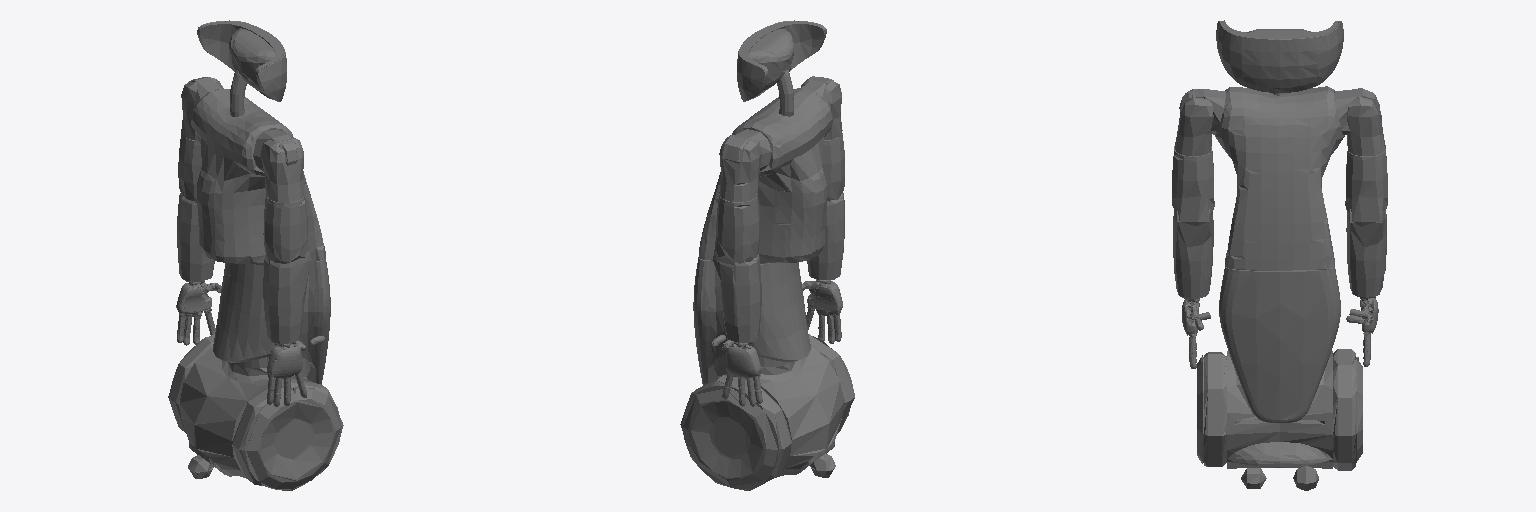
--- Render facts (derived) ---
The picture shows the robot from 3 angles, left to right: view 1: azimuth 30°, elevation 25°; view 2: azimuth 150°, elevation 25°; view 3: azimuth 270°, elevation 25°; orthographic projection.
Robot: R1Mk3 — 184 links, 183 joints (45 revolute, 1 prismatic, 137 fixed); root link mobile_base_body_link; default pose: every joint at zero.
Links seen in each view (by area): view 1: chest_link, mobile_base_r_tyre_link, mobile_base_body_link, torso_slider_eq_link, head_link, r_forearm, r_upper_arm, r_shoulder_2, l_forearm, l_upper_arm, mobile_base_l_tyre_link, r_hand_palm (+4 smaller); view 2: chest_link, mobile_base_l_tyre_link, torso_slider_eq_link, mobile_base_body_link, head_link, l_forearm, l_upper_arm, l_shoulder_2, r_forearm, r_upper_arm, mobile_base_r_tyre_link, l_hand_palm (+4 smaller); view 3: chest_link, torso_slider_eq_link, mobile_base_body_link, head_link, mobile_base_l_tyre_link, mobile_base_r_tyre_link, r_forearm, l_forearm, r_upper_arm, l_upper_arm, r_shoulder_2, l_shoulder_2 (+2 smaller).
Boxes of the visible links, x1,y1,x2,y2 form: chest_link: (191, 89, 325, 265); mobile_base_r_tyre_link: (232, 379, 343, 490); mobile_base_body_link: (179, 347, 313, 478); torso_slider_eq_link: (213, 258, 330, 384); head_link: (197, 20, 286, 101); r_forearm: (263, 251, 311, 344); r_upper_arm: (263, 195, 309, 263); r_shoulder_2: (260, 135, 304, 202); l_forearm: (177, 193, 214, 281); l_upper_arm: (178, 134, 201, 202); mobile_base_l_tyre_link: (168, 334, 214, 432); r_hand_palm: (267, 346, 302, 378); chest_link: (699, 88, 832, 263); mobile_base_l_tyre_link: (680, 375, 791, 490); torso_slider_eq_link: (693, 257, 810, 385); mobile_base_body_link: (705, 346, 843, 477); head_link: (737, 20, 826, 101); l_forearm: (713, 251, 761, 342); l_upper_arm: (714, 193, 759, 263); l_shoulder_2: (719, 135, 762, 201); r_forearm: (807, 193, 844, 280); r_upper_arm: (822, 133, 844, 201); mobile_base_r_tyre_link: (809, 334, 854, 433); l_hand_palm: (726, 345, 760, 377); chest_link: (1215, 86, 1344, 270); torso_slider_eq_link: (1219, 266, 1340, 423); mobile_base_body_link: (1227, 351, 1332, 490); head_link: (1216, 20, 1343, 92); mobile_base_l_tyre_link: (1333, 349, 1362, 470); mobile_base_r_tyre_link: (1197, 352, 1226, 466); r_forearm: (1173, 209, 1213, 299); l_forearm: (1346, 209, 1386, 298); r_upper_arm: (1172, 146, 1214, 225); l_upper_arm: (1345, 149, 1387, 226); r_shoulder_2: (1175, 89, 1213, 156); l_shoulder_2: (1347, 88, 1385, 155).
Size in the robot's own frame: 0.394 by 0.5646 by 1.25 metres.
49 mesh visuals loaded from 49 distinct referenced files (49 binary STL).

URDF robot description (R1Mk3):
<?xml version="1.0"?>
<robot name="R1Mk3">
  <link name="mobile_base_body_link">
    <inertial>
      <mass value="22.38733831972927"/>
      <origin xyz="0.004531530382432036 0 0.06342751366445423" rpy="0 -0 0"/>
      <inertia ixx="0.555440058441419" ixy="0" ixz="-0.0640008025738856" iyy="0.5868785916369081" iyz="0" izz="0.2693721028680779"/>
    </inertial>
    <visual>
      <origin xyz="0 0 0" rpy="0 -0 0"/>
      <geometry>
        <mesh filename="package://R1Mk3/meshes/simmechanics/sim_emorph_mob_base_body.stl" scale="0.001 0.001 0.001"/>
      </geometry>
      <material name="">
        <color rgba="0.5 0.5 0.5 1"/>
      </material>
    </visual>
    <collision>
      <origin xyz="0 0 0" rpy="0 -0 0"/>
      <geometry>
        <mesh filename="package://R1Mk3/meshes/simmechanics/sim_emorph_mob_base_body.stl" scale="0.001 0.001 0.001"/>
      </geometry>
      <material name="">
        <color rgba="0.5 0.5 0.5 1"/>
      </material>
    </collision>
  </link>
  <joint name="mobile_base_l_wheel_joint" type="revolute">
    <origin xyz="0 0.1389999999999999 -1.1102230246251565e-16" rpy="0 7.662700497994973e-16 0"/>
    <axis xyz="0 1 0"/>
    <parent link="mobile_base_body_link"/>
    <child link="mobile_base_l_tyre_link"/>
    <limit lower="-1.7453292519943295e+6" upper="1.7453292519943295e+6" effort="1e+9" velocity="1e+9"/>
    <dynamics damping="0.5" friction="0"/>
  </joint>
  <link name="mobile_base_l_tyre_link">
    <inertial>
      <mass value="3.2199858055744675"/>
      <origin xyz="0 0.03442489884626515 9.10811343815543e-6" rpy="0 -0 0"/>
      <inertia ixx="0.021487596568520503" ixy="0" ixz="0" iyy="0.04037529515619701" iyz="-8.891903600015211e-7" izz="0.021483307656942376"/>
    </inertial>
    <visual>
      <origin xyz="0 0 0" rpy="0 -0 0"/>
      <geometry>
        <mesh filename="package://R1Mk3/meshes/simmechanics/sim_emorph_mobile_base_l_tyre.stl" scale="0.001 0.001 0.001"/>
      </geometry>
      <material name="">
        <color rgba="0.5 0.5 0.5 1"/>
      </material>
    </visual>
    <collision>
      <origin xyz="0 0.03 0" rpy="1.57079632679 -0 0"/>
      <geometry>
        <cylinder radius="0.16" length="0.005"/>
      </geometry>
    </collision>
  </link>
  <joint name="mobile_base_r_wheel_joint" type="revolute">
    <origin xyz="0 -0.13900000000000004 -2.7755575615628914e-17" rpy="0 -0 0"/>
    <axis xyz="0 1 0"/>
    <parent link="mobile_base_body_link"/>
    <child link="mobile_base_r_tyre_link"/>
    <limit lower="-1.7453292519943295e+6" upper="1.7453292519943295e+6" effort="1e+9" velocity="1e+9"/>
    <dynamics damping="0.5" friction="0"/>
  </joint>
  <link name="mobile_base_r_tyre_link">
    <inertial>
      <mass value="3.2199844996907157"/>
      <origin xyz="0 -0.03442488632484336 9.102946312872229e-6" rpy="0 -0 0"/>
      <inertia ixx="0.021487589328670016" ixy="0" ixz="0" iyy="0.040375282920497746" iyz="8.888241223903605e-7" izz="0.021483299995861717"/>
    </inertial>
    <visual>
      <origin xyz="0 0 0" rpy="0 -0 0"/>
      <geometry>
        <mesh filename="package://R1Mk3/meshes/simmechanics/sim_emorph_mobile_base_r_tyre.stl" scale="0.001 0.001 0.001"/>
      </geometry>
      <material name="">
        <color rgba="0.5 0.5 0.5 1"/>
      </material>
    </visual>
    <collision>
      <origin xyz="0 -0.03 0" rpy="1.57079632679 -0 0"/>
      <geometry>
        <cylinder radius="0.16" length="0.005"/>
      </geometry>
    </collision>
  </link>
  <joint name="torso_heave_eq_joint" type="prismatic">
    <origin xyz="0.04399999999999975 0 0.06999999999999978" rpy="0 -0 1.1561757607518842e-15"/>
    <axis xyz="0 0 1"/>
    <parent link="mobile_base_body_link"/>
    <child link="torso_slider_eq_link"/>
    <limit lower="0" upper="0.17" effort="1e+9" velocity="1e+9"/>
    <dynamics damping="2" friction="0"/>
  </joint>
  <link name="torso_slider_eq_link">
    <inertial>
      <mass value="5.59982626694707"/>
      <origin xyz="0.015174971832668069 2.80975224798882e-6 0.24553275341839229" rpy="0 -0 0"/>
      <inertia ixx="0.07308089006270702" ixy="-1.3698388363514908e-6" ixz="0.0046719400245096195" iyy="0.07238788684975928" iyz="-5.401529104640673e-18" izz="0.055708127154132946"/>
    </inertial>
    <visual>
      <origin xyz="0 0 0" rpy="0 -0 0"/>
      <geometry>
        <mesh filename="package://R1Mk3/meshes/simmechanics/sim_emorph_torso_slider_eq.stl" scale="0.001 0.001 0.001"/>
      </geometry>
      <material name="">
        <color rgba="0.5 0.5 0.5 1"/>
      </material>
    </visual>
  </link>
  <joint name="torso_roll_eq_joint" type="revolute">
    <origin xyz="2.0816681711721685e-17 -5.242619982186716e-24 0.40000000000000024" rpy="0 2.220446049250313e-16 -1.8377532023260753e-23"/>
    <axis xyz="1 1.9721522630525295e-31 2.220446049250313e-16"/>
    <parent link="torso_slider_eq_link"/>
    <child link="torso_pin_eq_link"/>
    <limit lower="-0.5235987755982988" upper="0.5235987755982988" effort="1e+9" velocity="1e+9"/>
    <dynamics damping="2" friction="0"/>
  </joint>
  <link name="torso_pin_eq_link">
    <inertial>
      <mass value="0.31999477371302226"/>
      <origin xyz="0 0 6.1232339957367664e-24" rpy="0 -0 0"/>
      <inertia ixx="0.01" ixy="0" ixz="0" iyy="0.01" iyz="0" izz="0.01"/>
    </inertial>
    <visual>
      <origin xyz="0 0 0" rpy="0 -0 0"/>
      <geometry>
        <mesh filename="package://R1Mk3/meshes/simmechanics/sim_emorph_torso_pin_eq.stl" scale="0.001 0.001 0.001"/>
      </geometry>
      <material name="">
        <color rgba="0.5 0.5 0.5 1"/>
      </material>
    </visual>
  </link>
  <joint name="torso_pitch_eq_joint" type="revolute">
    <origin xyz="-1.3183898417423734e-16 -5.769801341748891e-19 -8.881784197001252e-16" rpy="2.677430187438326e-32 1.110223024625156e-16 -1.2767564783189298e-15"/>
    <axis xyz="1.2767564783189298e-15 -1 3.8508387890912664e-31"/>
    <parent link="torso_pin_eq_link"/>
    <child link="torso_platform_link"/>
    <limit lower="-0.5235987755982988" upper="0.5235987755982988" effort="1e+9" velocity="1e+9"/>
    <dynamics damping="2" friction="0"/>
  </joint>
  <link name="torso_platform_link">
    <inertial>
      <mass value="0.031999825298309546"/>
      <origin xyz="-2.0816681711721685e-17 -1.2609946697555567e-16 0" rpy="0 -0 0"/>
      <inertia ixx="3.266648832535854e-5" ixy="0" ixz="0" iyy="3.266648832535849e-5" iyz="0" izz="6.47996462290769e-5"/>
    </inertial>
    <visual>
      <origin xyz="0 0 0" rpy="0 -0 0"/>
      <geometry>
        <mesh filename="package://R1Mk3/meshes/simmechanics/sim_emorph_torso_platform.stl" scale="0.001 0.001 0.001"/>
      </geometry>
      <material name="">
        <color rgba="0.5 0.5 0.5 1"/>
      </material>
    </visual>
  </link>
  <joint name="torso_yaw_joint" type="revolute">
    <origin xyz="2.220446049250313e-16 -1.6880686544087094e-16 0.06950000000000012" rpy="-1.0898835157993226e-15 1.4574786319396409e-16 2.150984683485474e-15"/>
    <axis xyz="-1.4574786319396409e-16 -1.0898835157993226e-15 1"/>
    <parent link="torso_platform_link"/>
    <child link="chest_link"/>
    <limit lower="-1.0471975511965976" upper="1.0471975511965976" effort="1e+9" velocity="1e+9"/>
    <dynamics damping="2" friction="0"/>
  </joint>
  <link name="chest_link">
    <inertial>
      <mass value="11.006630670053784"/>
      <origin xyz="-0.05342508362944062 4.451185528156479e-4 0.16350186281802392" rpy="0 -0 0"/>
      <inertia ixx="0.22592706246813526" ixy="-1.373015943959773e-4" ixz="0.027792693776069563" iyy="0.21551813958910926" iyz="-0.00695979090154285" izz="0.10409836015106214"/>
    </inertial>
    <visual>
      <origin xyz="0 0 0" rpy="0 -0 0"/>
      <geometry>
        <mesh filename="package://R1Mk3/meshes/simmechanics/sim_emorph_chest.stl" scale="0.001 0.001 0.001"/>
      </geometry>
      <material name="">
        <color rgba="0.5 0.5 0.5 1"/>
      </material>
    </visual>
  </link>
  <joint name="neck_pitch_joint" type="revolute">
    <origin xyz="-0.0939999999999997 -1.5911115898279495e-16 0.3304999999999986" rpy="1.4266365866433113e-14 1.1313955190051007e-15 4.4868448346273745e-15"/>
    <axis xyz="1.1561757607518887e-15 1 -5.551115123110952e-17"/>
    <parent link="chest_link"/>
    <child link="neck_link"/>
    <limit lower="-0.5235987755982988" upper="0.8726646259971648" effort="1e+9" velocity="1e+9"/>
    <dynamics damping="2" friction="0"/>
  </joint>
  <link name="neck_link">
    <inertial>
      <mass value="1.4"/>
      <origin xyz="-3.216550439930285e-4 -1.7030856145810995e-17 0.07755531114599701" rpy="0 -0 0"/>
      <inertia ixx="0.0042979349262165165" ixy="1.6175679588350532e-19" ixz="-5.92816958988333e-4" iyy="0.004437841678610556" iyz="6.854005985449545e-19" izz="4.199038582793866e-4"/>
    </inertial>
    <visual>
      <origin xyz="0 0 0" rpy="0 -0 0"/>
      <geometry>
        <mesh filename="package://R1Mk3/meshes/simmechanics/sim_cer_emorph_neck.stl" scale="0.001 0.001 0.001"/>
      </geometry>
      <material name="">
        <color rgba="0.5 0.5 0.5 1"/>
      </material>
    </visual>
  </link>
  <joint name="l_shoulder_pitch" type="revolute">
    <origin xyz="-0.08400053150683917 0.12013484795757048 0.286332955917873" rpy="0.46227268619152106 -0.9974565180194648 -0.3965303028718867"/>
    <axis xyz="-1.149080830487037e-14 1.0000000000000024 1.0005885009434223e-14"/>
    <parent link="chest_link"/>
    <child link="l_shoulder_1"/>
    <limit lower="-2.9670597283903604" upper="0.6108652381980153" effort="1e+9" velocity="1e+9"/>
    <dynamics damping="2" friction="0"/>
  </joint>
  <link name="l_shoulder_1">
    <inertial>
      <mass value="0.9205302270338587"/>
      <origin xyz="-0.001946411732135389 0.06685258321997073 -0.001525090959314912" rpy="0 -0 0"/>
      <inertia ixx="0.01" ixy="0" ixz="0" iyy="0.01" iyz="0" izz="0.01"/>
    </inertial>
    <visual>
      <origin xyz="0 0 0" rpy="0 -0 0"/>
      <geometry>
        <mesh filename="package://R1Mk3/meshes/simmechanics/sim_emorph_l_shoulder_1.stl" scale="0.001 0.001 0.001"/>
      </geometry>
      <material name="">
        <color rgba="0.5 0.5 0.5 1"/>
      </material>
    </visual>
  </link>
  <joint name="r_shoulder_pitch" type="revolute">
    <origin xyz="-0.08400053150683896 -0.12013484795757053 0.2863329559178688" rpy="-0.4622726861915203 -0.9974565180194644 0.39653030287188284"/>
    <axis xyz="8.770761894538737e-15 1.0000000000000013 -7.0637939941775585e-15"/>
    <parent link="chest_link"/>
    <child link="r_shoulder_1"/>
    <limit lower="-2.9670597283903604" upper="0.6108652381980153" effort="1e+9" velocity="1e+9"/>
    <dynamics damping="2" friction="0"/>
  </joint>
  <link name="r_shoulder_1">
    <inertial>
      <mass value="0.9205302270338587"/>
      <origin xyz="-0.0019414141305987842 -0.06685331018889412 -0.00153764721332289" rpy="0 -0 0"/>
      <inertia ixx="0.01" ixy="0" ixz="0" iyy="0.01" iyz="0" izz="0.010000000000000002"/>
    </inertial>
    <visual>
      <origin xyz="0 0 0" rpy="0 -0 0"/>
      <geometry>
        <mesh filename="package://R1Mk3/meshes/simmechanics/sim_emorph_r_shoulder_1.stl" scale="0.001 0.001 0.001"/>
      </geometry>
      <material name="">
        <color rgba="0.5 0.5 0.5 1"/>
      </material>
    </visual>
  </link>
  <joint name="r_shoulder_roll" type="revolute">
    <origin xyz="0.003749999999999143 -0.09330000000000055 -0.006495190528383377" rpy="0.244346095279198 1.0471975511965996 2.4338251683117622e-14"/>
    <axis xyz="-1 -1.429412144204889e-14 1.021405182655144e-14"/>
    <parent link="r_shoulder_1"/>
    <child link="r_shoulder_2"/>
    <limit lower="-0.2617993877991494" upper="2.6179938779914944" effort="1e+9" velocity="1e+9"/>
    <dynamics damping="2" friction="0"/>
  </joint>
  <link name="r_shoulder_2">
    <inertial>
      <mass value="0.6080396220710449"/>
      <origin xyz="-7.465746078458985e-5 -0.006873436249446779 -0.04428821648354275" rpy="0 -0 0"/>
      <inertia ixx="0.01" ixy="0" ixz="0" iyy="0.01" iyz="0" izz="0.01"/>
    </inertial>
    <visual>
      <origin xyz="0 0 0" rpy="0 -0 0"/>
      <geometry>
        <mesh filename="package://R1Mk3/meshes/simmechanics/sim_emorph_r_shoulder_2.stl" scale="0.001 0.001 0.001"/>
      </geometry>
      <material name="">
        <color rgba="0.5 0.5 0.5 1"/>
      </material>
    </visual>
  </link>
  <joint name="r_arm_ft_sensor" type="fixed">
    <origin xyz="-0.0068499999999994746 -0.015000000000000097 -0.08430000000000015" rpy="-1.1679620594505114e-16 6.826136877968736e-15 4.94835800753015e-15"/>
    <parent link="r_shoulder_2"/>
    <child link="r_shoulder_3"/>
  </joint>
  <link name="r_shoulder_3">
    <inertial>
      <mass value="0.4623249532467936"/>
      <origin xyz="1.1402388285693815e-4 0.0021062597854318577 -0.05634188166833354" rpy="0 -0 0"/>
      <inertia ixx="0.01" ixy="0" ixz="0" iyy="0.01" iyz="0" izz="0.01"/>
    </inertial>
    <visual>
      <origin xyz="0 0 0" rpy="0 -0 0"/>
      <geometry>
        <mesh filename="package://R1Mk3/meshes/simmechanics/sim_emorph_r_shoulder_3.stl" scale="0.001 0.001 0.001"/>
      </geometry>
      <material name="">
        <color rgba="0.5 0.5 0.5 1"/>
      </material>
    </visual>
  </link>
  <joint name="r_shoulder_yaw" type="revolute">
    <origin xyz="1.3787582187063663e-14 0 -0.09249999999999958" rpy="1.0867658778094487e-13 -3.511889672298818e-13 -8.388657031109435e-14"/>
    <axis xyz="-1.0756098702675875e-14 -7.324493453917992e-15 1.0000000000000002"/>
    <parent link="r_shoulder_3"/>
    <child link="r_upper_arm"/>
    <limit lower="-0.9075712110370514" upper="1.4311699866353502" effort="1e+9" velocity="1e+9"/>
    <dynamics damping="2" friction="0"/>
  </joint>
  <link name="r_upper_arm">
    <inertial>
      <mass value="5.151351881512406"/>
      <origin xyz="-0.0016337943691091053 -2.849044717098126e-4 -0.0291327391827797" rpy="0 -0 0"/>
      <inertia ixx="0.016840874694995834" ixy="-4.251606397628043e-6" ixz="-2.0760347528950605e-4" iyy="0.016820111448241134" iyz="5.131532859128798e-4" izz="0.007390922215738868"/>
    </inertial>
    <visual>
      <origin xyz="0 0 0" rpy="0 -0 0"/>
      <geometry>
        <mesh filename="package://R1Mk3/meshes/simmechanics/sim_emorph_r_upperarm.stl" scale="0.001 0.001 0.001"/>
      </geometry>
      <material name="">
        <color rgba="0.5 0.5 0.5 1"/>
      </material>
    </visual>
  </link>
  <joint name="r_elbow" type="revolute">
    <origin xyz="0.010000000000000168 0.0014999999999925628 -0.12369999999999992" rpy="-8.776602962605454e-15 8.621163678779187e-14 -4.61332598370497e-15"/>
    <axis xyz="-6.881155398478144e-15 -1.0000000000000007 -1.766090636148874e-13"/>
    <parent link="r_upper_arm"/>
    <child link="r_forearm"/>
    <limit lower="-0.08726646259971647" upper="2.0943951023931953" effort="1e+9" velocity="1e+9"/>
    <dynamics damping="2" friction="0"/>
  </joint>
  <link name="r_forearm">
    <inertial>
      <mass value="1.5127280243277526"/>
      <origin xyz="-0.017870144976380828 -4.3369235091492153e-4 -0.1201340745623698" rpy="0 -0 0"/>
      <inertia ixx="0.010000000000000002" ixy="0" ixz="0" iyy="0.009999999999999998" iyz="0" izz="0.01"/>
    </inertial>
    <visual>
      <origin xyz="0 0 0" rpy="0 -0 0"/>
      <geometry>
        <mesh filename="package://R1Mk3/meshes/simmechanics/sim_emorph_r_forearm.stl" scale="0.001 0.001 0.001"/>
      </geometry>
      <material name="">
        <color rgba="0.5 0.5 0.5 1"/>
      </material>
    </visual>
  </link>
  <joint name="r_wrist_yaw" type="revolute">
    <origin xyz="-0.014999999999887593 -0.002000000000031976 -0.24435000000000512" rpy="-7.878073216300372e-15 -4.1640546262836087e-13 5.3958980296073275e-15"/>
    <axis xyz="-8.698055296851647e-14 1.8287579293696935e-13 1.0000000000000016"/>
    <parent link="r_forearm"/>
    <child link="r_wrist_1"/>
    <limit lower="-1.6057029118347832" upper="1.6057029118347832" effort="1e+9" velocity="1e+9"/>
    <dynamics damping="2" friction="0"/>
  </joint>
  <link name="r_wrist_1">
    <inertial>
      <mass value="0.12269276206782376"/>
      <origin xyz="-1.4544607175177166e-4 1.559247070407055e-4 0.022377800821402394" rpy="0 -0 0"/>
      <inertia ixx="0.01" ixy="0" ixz="0" iyy="0.01" iyz="0" izz="0.01"/>
    </inertial>
    <visual>
      <origin xyz="0 0 0" rpy="0 -0 0"/>
      <geometry>
        <mesh filename="package://R1Mk3/meshes/simmechanics/sim_emorph_r_wrist_1.stl" scale="0.001 0.001 0.001"/>
      </geometry>
      <material name="">
        <color rgba="0.5 0.5 0.5 1"/>
      </material>
    </visual>
  </link>
  <joint name="r_wrist_roll" type="revolute">
    <origin xyz="7.632783294297951e-17 2.498001805406602e-16 3.3306690738754696e-16" rpy="6.3169412432885e-16 1.7406865879254774e-16 -2.979556976579619e-16"/>
    <axis xyz="0.9999999999999993 -2.685670425200266e-16 -1.1855750756128986e-16"/>
    <parent link="r_wrist_1"/>
    <child link="r_wrist_2"/>
    <limit lower="-0.3490658503988659" upper="0.5235987755982988" effort="1e+9" velocity="1e+9"/>
    <dynamics damping="2" friction="0"/>
  </joint>
  <link name="r_wrist_2">
    <inertial>
      <mass value="0.021188357245777188"/>
      <origin xyz="5.05499045400093e-11 7.897372606293362e-4 -0.004696960055006527" rpy="0 -0 0"/>
      <inertia ixx="0.01" ixy="0" ixz="0" iyy="0.01" iyz="0" izz="0.01"/>
    </inertial>
    <visual>
      <origin xyz="0 0 0" rpy="0 -0 0"/>
      <geometry>
        <mesh filename="package://R1Mk3/meshes/simmechanics/sim_emorph_r_wrist_2.stl" scale="0.001 0.001 0.001"/>
      </geometry>
      <material name="">
        <color rgba="0.5 0.5 0.5 1"/>
      </material>
    </visual>
  </link>
  <joint name="r_wrist_pitch" type="revolute">
    <origin xyz="5.551115123125783e-17 -5.551115123125783e-17 -2.220446049250313e-16" rpy="3.2643052087827604e-16 -6.19079440489223e-17 -2.4254449631448003e-16"/>
    <axis xyz="2.668306249781552e-16 -0.9999999999999994 -6.594507967859708e-16"/>
    <parent link="r_wrist_2"/>
    <child link="r_hand_palm"/>
    <limit lower="-0.3490658503988659" upper="0.3490658503988659" effort="1e+9" velocity="1e+9"/>
    <dynamics damping="2" friction="0"/>
  </joint>
  <link name="r_hand_palm">
    <inertial>
      <mass value="0.2020068404688116"/>
      <origin xyz="-0.003982157972782507 -0.0021135289059891482 -0.05842371394186491" rpy="0 -0 0"/>
      <inertia ixx="0.01" ixy="0" ixz="0" iyy="0.01" iyz="0" izz="0.01"/>
    </inertial>
    <visual>
      <origin xyz="0 0 0" rpy="0 -0 0"/>
      <geometry>
        <mesh filename="package://R1Mk3/meshes/simmechanics/sim_emorph_r_hand_palm.stl" scale="0.001 0.001 0.001"/>
      </geometry>
      <material name="">
        <color rgba="0.5 0.5 0.5 1"/>
      </material>
    </visual>
  </link>
  <joint name="r_index_add" type="revolute">
    <origin xyz="0.02249999999999991 0.0015000000000005564 -0.06859999999999972" rpy="-1.8219785097875794e-15 0.2967059728390403 3.141592653589792"/>
    <axis xyz="-2.8199000035257554e-16 -0.9999999999999994 1.3731809894432951e-15"/>
    <parent link="r_hand_palm"/>
    <child link="r_hand_index_1"/>
    <limit lower="0" upper="0.2617993877991494" effort="1e+9" velocity="1e+9"/>
    <dynamics damping="2" friction="0"/>
  </joint>
  <link name="r_hand_index_1">
    <inertial>
      <mass value="0.019232477290189804"/>
      <origin xyz="-0.008420124408709713 0.003850331678233287 -0.01714942611279774" rpy="0 -0 0"/>
      <inertia ixx="0.01" ixy="0" ixz="0" iyy="0.01" iyz="0" izz="0.01"/>
    </inertial>
    <visual>
      <origin xyz="0 0 0" rpy="0 -0 0"/>
      <geometry>
        <mesh filename="package://R1Mk3/meshes/simmechanics/sim_emorph_r_hand_index_1.stl" scale="0.001 0.001 0.001"/>
      </geometry>
      <material name="">
        <color rgba="0.5 0.5 0.5 1"/>
      </material>
    </visual>
  </link>
  <joint name="r_middle_prox" type="revolute">
    <origin xyz="0.009600000000000018 0.0015000000000005564 -0.1029999999999997" rpy="-1.5201721959961367e-15 1.796577209917105e-15 3.1415926535897922"/>
    <axis xyz="-0.9999999999999996 -4.4302906341327945e-15 6.654290833629744e-16"/>
    <parent link="r_hand_palm"/>
    <child link="r_hand_middle_1"/>
    <limit lower="0" upper="1.5707963267948966" effort="1e+9" velocity="1e+9"/>
    <dynamics damping="2" friction="0"/>
  </joint>
  <link name="r_hand_middle_1">
    <inertial>
      <mass value="0.007486365997467528"/>
      <origin xyz="5.610258533731913e-5 0.0011131046827904112 -0.01742880983276912" rpy="0 -0 0"/>
      <inertia ixx="0.01" ixy="0" ixz="0" iyy="0.01" iyz="0" izz="0.01"/>
    </inertial>
    <visual>
      <origin xyz="0 0 0" rpy="0 -0 0"/>
      <geometry>
        <mesh filename="package://R1Mk3/meshes/simmechanics/sim_emorph_r_hand_middle_1.stl" scale="0.001 0.001 0.001"/>
      </geometry>
      <material name="">
        <color rgba="0.5 0.5 0.5 1"/>
      </material>
    </visual>
  </link>
  <joint name="r_pinkie_prox" type="revolute">
    <origin xyz="-0.03598268094316612 0.0023777595791096284 -0.09206828131946365" rpy="4.1095343994377795e-4 -0.0872664625997284 3.115412714809877"/>
    <axis xyz="-0.9999999999999997 4.2975605712980425e-15 -3.191891195797325e-16"/>
    <parent link="r_hand_palm"/>
    <child link="r_hand_pinkie_1"/>
    <limit lower="0" upper="1.5707963267948966" effort="1e+9" velocity="1e+9"/>
    <dynamics damping="2" friction="0"/>
  </joint>
  <link name="r_hand_pinkie_1">
    <inertial>
      <mass value="0.006357585733638135"/>
      <origin xyz="3.616260147435227e-5 0.0012147050941129778 -0.015053109692718447" rpy="0 -0 0"/>
      <inertia ixx="0.01" ixy="0" ixz="0" iyy="0.01" iyz="0" izz="0.01"/>
    </inertial>
    <visual>
      <origin xyz="0 0 0" rpy="0 -0 0"/>
      <geometry>
        <mesh filename="package://R1Mk3/meshes/simmechanics/sim_emorph_r_hand_pinkie_1.stl" scale="0.001 0.001 0.001"/>
      </geometry>
      <material name="">
        <color rgba="0.5 0.5 0.5 1"/>
      </material>
    </visual>
  </link>
  <joint name="r_ring_prox" type="revolute">
    <origin xyz="-0.015417755558119937 0.001849813728471178 -0.09788067183884414" rpy="-1.8555868085958955e-15 -0.08726646259972873 3.115412714809877"/>
    <axis xyz="-0.9999999999999997 -3.617118096769719e-15 -4.73232564246473e-15"/>
    <parent link="r_hand_palm"/>
    <child link="r_hand_ring_1"/>
    <limit lower="0" upper="1.5707963267948966" effort="1e+9" velocity="1e+9"/>
    <dynamics damping="2" friction="0"/>
  </joint>
  <link name="r_hand_ring_1">
    <inertial>
      <mass value="0.007486365997467528"/>
      <origin xyz="5.6102585337293107e-5 0.0011131045999587252 -0.017428809839565573" rpy="0 -0 0"/>
      <inertia ixx="0.01" ixy="0" ixz="0" iyy="0.01" iyz="0" izz="0.01"/>
    </inertial>
    <visual>
      <origin xyz="0 0 0" rpy="0 -0 0"/>
      <geometry>
        <mesh filename="package://R1Mk3/meshes/simmechanics/sim_emorph_r_hand_ring_1.stl" scale="0.001 0.001 0.001"/>
      </geometry>
      <material name="">
        <color rgba="0.5 0.5 0.5 1"/>
      </material>
    </visual>
  </link>
  <joint name="r_thumb_add" type="revolute">
    <origin xyz="0.0233748632563905 0.0030000000000003912 -0.03452383847355461" rpy="1.673677624598278e-15 -0.22689280275926468 -4.805912162985855e-17"/>
    <axis xyz="4.996003610813204e-16 2.6775506528309486e-15 0.9999999999999999"/>
    <parent link="r_hand_palm"/>
    <child link="r_hand_thumb_1"/>
    <limit lower="0" upper="1.7453292519943295" effort="1e+9" velocity="1e+9"/>
    <dynamics damping="2" friction="0"/>
  </joint>
  <link name="r_hand_thumb_1">
    <inertial>
      <mass value="0.02894174189037044"/>
      <origin xyz="0.0183756324403817 -4.55521018183358e-5 0.002126473485347669" rpy="0 -0 0"/>
      <inertia ixx="0.01" ixy="0" ixz="0" iyy="0.01" iyz="0" izz="0.01"/>
    </inertial>
    <visual>
      <origin xyz="0 0 0" rpy="0 -0 0"/>
      <geometry>
        <mesh filename="package://R1Mk3/meshes/simmechanics/sim_emorph_r_hand_thumb_1.stl" scale="0.001 0.001 0.001"/>
      </geometry>
      <material name="">
        <color rgba="0.5 0.5 0.5 1"/>
      </material>
    </visual>
  </link>
  <joint name="r_thumb_prox" type="revolute">
    <origin xyz="0.03807465449956053 0.0034691095803252026 -0.0036017448035498" rpy="1.4305744121375041 0.1970305979589347 -1.4222071875351316"/>
    <axis xyz="-1.0000000000000009 -1.426636586643326e-14 2.5500435096859064e-15"/>
    <parent link="r_hand_thumb_1"/>
    <child link="r_hand_thumb_2"/>
    <limit lower="0" upper="1.5707963267948966" effort="1e+9" velocity="1e+9"/>
    <dynamics damping="2" friction="0"/>
  </joint>
  <link name="r_hand_thumb_2">
    <inertial>
      <mass value="0.00744305878263309"/>
      <origin xyz="1.1691406974989604e-5 3.0451621296398446e-4 -0.014894613060785539" rpy="0 -0 0"/>
      <inertia ixx="0.01" ixy="0" ixz="0" iyy="0.01" iyz="0" izz="0.01"/>
    </inertial>
    <visual>
      <origin xyz="0 0 0" rpy="0 -0 0"/>
      <geometry>
        <mesh filename="package://R1Mk3/meshes/simmechanics/sim_emorph_r_hand_thumb_2.stl" scale="0.001 0.001 0.001"/>
      </geometry>
      <material name="">
        <color rgba="0.5 0.5 0.5 1"/>
      </material>
    </visual>
  </link>
  <joint name="r_thumb_dist" type="revolute">
    <origin xyz="-5.551115123125783e-17 -0.003710625528295264 -0.03483505788984388" rpy="-0.0632887739526204 3.164135620181696e-15 1.4696577288475478e-14"/>
    <axis xyz="-1.0000000000000022 -2.8857703148647843e-14 2.7310966301870412e-16"/>
    <parent link="r_hand_thumb_2"/>
    <child link="r_hand_thumb_3"/>
    <limit lower="0" upper="1.7697638615222502" effort="1e+9" velocity="1e+9"/>
    <dynamics damping="2" friction="0"/>
  </joint>
  <link name="r_hand_thumb_3">
    <inertial>
      <mass value="0.008481423658381124"/>
      <origin xyz="-2.8601851543103015e-5 0.002737889256839321 -0.016935937291633126" rpy="0 -0 0"/>
      <inertia ixx="0.01" ixy="0" ixz="0" iyy="0.01" iyz="0" izz="0.01"/>
    </inertial>
    <visual>
      <origin xyz="0 0 0" rpy="0 -0 0"/>
      <geometry>
        <mesh filename="package://R1Mk3/meshes/simmechanics/sim_emorph_r_hand_thumb_3.stl" scale="0.001 0.001 0.001"/>
      </geometry>
      <material name="">
        <color rgba="0.5 0.5 0.5 1"/>
      </material>
    </visual>
  </link>
  <joint name="r_ring_dist" type="revolute">
    <origin xyz="4.163336342344337e-17 -0.0015000000000001956 -0.039999999999999425" rpy="-1.387778780781446e-17 -4.163336342344337e-17 -7.632783294297954e-17"/>
    <axis xyz="-0.9999999999999997 4.0592529337857286e-16 -5.898059818321164e-17"/>
    <parent link="r_hand_ring_1"/>
    <child link="r_hand_ring_2"/>
    <limit lower="0" upper="1.7994344588061537" effort="1e+9" velocity="1e+9"/>
    <dynamics damping="2" friction="0"/>
  </joint>
  <link name="r_hand_ring_2">
    <inertial>
      <mass value="0.007251413355667432"/>
      <origin xyz="4.43251343077225e-5 0.00275470906266162 -0.018890876418029168" rpy="0 -0 0"/>
      <inertia ixx="0.01" ixy="0" ixz="0" iyy="0.01" iyz="0" izz="0.01"/>
    </inertial>
    <visual>
      <origin xyz="0 0 0" rpy="0 -0 0"/>
      <geometry>
        <mesh filename="package://R1Mk3/meshes/simmechanics/sim_emorph_r_hand_ring_2.stl" scale="0.001 0.001 0.001"/>
      </geometry>
      <material name="">
        <color rgba="0.5 0.5 0.5 1"/>
      </material>
    </visual>
  </link>
  <joint name="r_pinkie_dist" type="revolute">
    <origin xyz="2.7755575615628914e-17 -0.001514193309378964 -0.03499938883211856" rpy="-0.0012956915198226522 -1.1102230246251565e-16 -2.498001805406603e-16"/>
    <axis xyz="-0.9999999999999997 1.122199955094049e-15 -2.5905081939964974e-15"/>
    <parent link="r_hand_pinkie_1"/>
    <child link="r_hand_pinkie_2"/>
    <limit lower="0" upper="1.7226399717184033" effort="1e+9" velocity="1e+9"/>
    <dynamics damping="2" friction="0"/>
  </joint>
  <link name="r_hand_pinkie_2">
    <inertial>
      <mass value="0.007240237490764073"/>
      <origin xyz="2.1391072559044655e-5 0.0027712863562942003 -0.018930305880602127" rpy="0 -0 0"/>
      <inertia ixx="0.01" ixy="0" ixz="0" iyy="0.01" iyz="0" izz="0.01"/>
    </inertial>
    <visual>
      <origin xyz="0 0 0" rpy="0 -0 0"/>
      <geometry>
        <mesh filename="package://R1Mk3/meshes/simmechanics/sim_emorph_r_hand_pinkie_2.stl" scale="0.001 0.001 0.001"/>
      </geometry>
      <material name="">
        <color rgba="0.5 0.5 0.5 1"/>
      </material>
    </visual>
  </link>
  <joint name="r_middle_dist" type="revolute">
    <origin xyz="6.938893903907228e-18 -0.0014999999999997238 -0.04000000000000015" rpy="-7.535550938194039e-8 1.5894403848637495e-16 -2.1003028960117637e-17"/>
    <axis xyz="-0.9999999999999997 -2.0389677846702298e-15 2.95065603973689e-15"/>
    <parent link="r_hand_middle_1"/>
    <child link="r_hand_middle_2"/>
    <limit lower="0" upper="1.7994344588061537" effort="1e+9" velocity="1e+9"/>
    <dynamics damping="2" friction="0"/>
  </joint>
  <link name="r_hand_middle_2">
    <inertial>
      <mass value="0.007251413355667432"/>
      <origin xyz="4.432513430769475e-5 0.0027547091926723166 -0.018890876399070666" rpy="0 -0 0"/>
      <inertia ixx="0.01" ixy="0" ixz="0" iyy="0.01" iyz="0" izz="0.01"/>
    </inertial>
    <visual>
      <origin xyz="0 0 0" rpy="0 -0 0"/>
      <geometry>
        <mesh filename="package://R1Mk3/meshes/simmechanics/sim_emorph_r_hand_middle_2.stl" scale="0.001 0.001 0.001"/>
      </geometry>
      <material name="">
        <color rgba="0.5 0.5 0.5 1"/>
      </material>
    </visual>
  </link>
  <joint name="r_index_prox" type="revolute">
    <origin xyz="-0.009192533317427781 2.7755575615628914e-17 -0.030713451316238427" rpy="-6.519807412594219e-16 2.220446049250313e-16 5.507069409868563e-17"/>
    <axis xyz="-0.9999999999999993 3.640657721582126e-15 -2.137179322403427e-15"/>
    <parent link="r_hand_index_1"/>
    <child link="r_hand_index_2"/>
    <limit lower="0" upper="1.5707963267948966" effort="1e+9" velocity="1e+9"/>
    <dynamics damping="2" friction="0"/>
  </joint>
  <link name="r_hand_index_2">
    <inertial>
      <mass value="0.007486365997467528"/>
      <origin xyz="5.610258533736423e-5 0.0011131050125119946 -0.01742880980571504" rpy="0 -0 0"/>
      <inertia ixx="0.01" ixy="0" ixz="0" iyy="0.01" iyz="0" izz="0.01"/>
    </inertial>
    <visual>
      <origin xyz="0 0 0" rpy="0 -0 0"/>
      <geometry>
        <mesh filename="package://R1Mk3/meshes/simmechanics/sim_emorph_r_hand_index_2.stl" scale="0.001 0.001 0.001"/>
      </geometry>
      <material name="">
        <color rgba="0.5 0.5 0.5 1"/>
      </material>
    </visual>
  </link>
  <joint name="r_index_dist" type="revolute">
    <origin xyz="9.71445146547012e-17 -0.0014999999999999458 -0.04000000000000048" rpy="1.0015571678219023e-16 1.1102230246251565e-16 -3.169258475446692e-16"/>
    <axis xyz="-0.9999999999999993 -4.883094118944207e-16 -5.273559366969493e-16"/>
    <parent link="r_hand_index_2"/>
    <child link="r_hand_index_3"/>
    <limit lower="0" upper="1.7994344588061537" effort="1e+9" velocity="1e+9"/>
    <dynamics damping="2" friction="0"/>
  </joint>
  <link name="r_hand_index_3">
    <inertial>
      <mass value="0.007251413355667432"/>
      <origin xyz="4.432513430773638e-5 0.0027547026217409343 -0.01889087735725714" rpy="0 -0 0"/>
      <inertia ixx="0.01" ixy="0" ixz="0" iyy="0.01" iyz="0" izz="0.01"/>
    </inertial>
    <visual>
      <origin xyz="0 0 0" rpy="0 -0 0"/>
      <geometry>
        <mesh filename="package://R1Mk3/meshes/simmechanics/sim_emorph_r_hand_index_3.stl" scale="0.001 0.001 0.001"/>
      </geometry>
      <material name="">
        <color rgba="0.5 0.5 0.5 1"/>
      </material>
    </visual>
  </link>
  <joint name="l_shoulder_roll" type="revolute">
    <origin xyz="0.0024999999999943956 0.09330000000000116 -0.0043301270189194385" rpy="-0.24434609527918347 1.047197551196627 1.5797638804743949e-15"/>
    <axis xyz="1.0000000000000002 -1.9872992140790302e-14 -1.2378986724570495e-14"/>
    <parent link="l_shoulder_1"/>
    <child link="l_shoulder_2"/>
    <limit lower="-0.2617993877991494" upper="2.6179938779914944" effort="1e+9" velocity="1e+9"/>
    <dynamics damping="2" friction="0"/>
  </joint>
  <link name="l_shoulder_2">
    <inertial>
      <mass value="0.6125478069741506"/>
      <origin xyz="0.002666532391712599 0.005154325370767043 -0.05018707330365968" rpy="0 -0 0"/>
      <inertia ixx="0.01" ixy="0" ixz="0" iyy="0.01" iyz="0" izz="0.01"/>
    </inertial>
    <visual>
      <origin xyz="0 0 0" rpy="0 -0 0"/>
      <geometry>
        <mesh filename="package://R1Mk3/meshes/simmechanics/sim_emorph_l_shoulder_2.stl" scale="0.001 0.001 0.001"/>
      </geometry>
      <material name="">
        <color rgba="0.5 0.5 0.5 1"/>
      </material>
    </visual>
  </link>
  <joint name="l_arm_ft_sensor" type="fixed">
    <origin xyz="-0.004349999999998785 0.015000000000000041 -0.08430000000000004" rpy="-1.1378201852273147e-16 1.3234422238661558e-14 -1.1890463860373368e-14"/>
    <parent link="l_shoulder_2"/>
    <child link="l_shoulder_3"/>
  </joint>
  <link name="l_shoulder_3">
    <inertial>
      <mass value="0.4623249532467936"/>
      <origin xyz="1.031584390220816e-4 -0.0021062597852904985 -0.056341881668335314" rpy="0 -0 0"/>
      <inertia ixx="0.01" ixy="0" ixz="0" iyy="0.01" iyz="0" izz="0.01"/>
    </inertial>
    <visual>
      <origin xyz="0 0 0" rpy="0 -0 0"/>
      <geometry>
        <mesh filename="package://R1Mk3/meshes/simmechanics/sim_emorph_l_shoulder_3.stl" scale="0.001 0.001 0.001"/>
      </geometry>
      <material name="">
        <color rgba="0.5 0.5 0.5 1"/>
      </material>
    </visual>
  </link>
  <joint name="l_shoulder_yaw" type="revolute">
    <origin xyz="4.579669976578771e-16 -2.275957200481571e-15 -0.09250000000000014" rpy="9.914396488463463e-14 8.846976970455778e-13 1.2938419798979962e-14"/>
    <axis xyz="8.979207351614282e-13 -9.88121240574378e-14 -0.9999999999999922"/>
    <parent link="l_shoulder_3"/>
    <child link="l_upper_arm"/>
    <limit lower="-0.9075712110370514" upper="1.4311699866353502" effort="1e+9" velocity="1e+9"/>
    <dynamics damping="2" friction="0"/>
  </joint>
  <link name="l_upper_arm">
    <inertial>
      <mass value="5.152081516462353"/>
      <origin xyz="-0.0016360906950566995 2.8760919938605745e-4 -0.029129484429294413" rpy="0 -0 0"/>
      <inertia ixx="0.016843398710057952" ixy="-1.492592009842048e-5" ixz="-2.0597160065554028e-4" iyy="0.016822632148716037" iyz="-5.136236906348136e-4" izz="0.007391461210731708"/>
    </inertial>
    <visual>
      <origin xyz="0 0 0" rpy="0 -0 0"/>
      <geometry>
        <mesh filename="package://R1Mk3/meshes/simmechanics/sim_emorph_l_upperarm.stl" scale="0.001 0.001 0.001"/>
      </geometry>
      <material name="">
        <color rgba="0.5 0.5 0.5 1"/>
      </material>
    </visual>
  </link>
  <joint name="l_elbow" type="revolute">
    <origin xyz="0.010000000000109279 -0.0015000000000126024 -0.12370000000000425" rpy="9.882562686073715e-14 0.0410236199281351 -1.5393375483343204e-14"/>
    <axis xyz="1.7510203204685582e-14 -1.0000000000000009 -1.9873021927624366e-13"/>
    <parent link="l_upper_arm"/>
    <child link="l_forearm"/>
    <limit lower="-0.08726646259971647" upper="2.0943951023931953" effort="1e+9" velocity="1e+9"/>
    <dynamics damping="2" friction="0"/>
  </joint>
  <link name="l_forearm">
    <inertial>
      <mass value="1.5127280243277526"/>
      <origin xyz="-0.017870832470124914 3.528028289372931e-4 -0.12013406586454389" rpy="0 -0 0"/>
      <inertia ixx="0.009999999999999998" ixy="0" ixz="0" iyy="0.009999999999999998" iyz="0" izz="0.01"/>
    </inertial>
    <visual>
      <origin xyz="0 0 0" rpy="0 -0 0"/>
      <geometry>
        <mesh filename="package://R1Mk3/meshes/simmechanics/sim_emorph_l_forearm.stl" scale="0.001 0.001 0.001"/>
      </geometry>
      <material name="">
        <color rgba="0.5 0.5 0.5 1"/>
      </material>
    </visual>
  </link>
  <joint name="l_wrist_yaw" type="revolute">
    <origin xyz="-0.014999999999964521 0.002000000000021568 -0.24434999999998203" rpy="1.4450819996192198e-13 7.473327512386163e-13 -8.701491201299094e-14"/>
    <axis xyz="8.856976024991497e-13 -9.886813268169502e-14 -0.9999999999999929"/>
    <parent link="l_forearm"/>
    <child link="l_wrist_1"/>
    <limit lower="-1.6057029118347832" upper="1.6057029118347832" effort="1e+9" velocity="1e+9"/>
    <dynamics damping="2" friction="0"/>
  </joint>
  <link name="l_wrist_1">
    <inertial>
      <mass value="0.1226928"/>
      <origin xyz="1.4545073498396788e-4 -1.5595311920038601e-4 0.022377795694245" rpy="0 -0 0"/>
      <inertia ixx="0.01" ixy="0" ixz="0" iyy="0.01" iyz="0" izz="0.01"/>
    </inertial>
    <visual>
      <origin xyz="0 0 0" rpy="0 -0 0"/>
      <geometry>
        <mesh filename="package://R1Mk3/meshes/simmechanics/sim_emorph_l_wrist_1.stl" scale="0.001 0.001 0.001"/>
      </geometry>
      <material name="">
        <color rgba="0.5 0.5 0.5 1"/>
      </material>
    </visual>
  </link>
  <joint name="l_wrist_roll" type="revolute">
    <origin xyz="8.326672684688674e-17 -1.1102230246251565e-16 -5.551115123125783e-17" rpy="3.895775574965646e-16 -1.8735013540549517e-16 -3.9200515392339544e-16"/>
    <axis xyz="-1.0000000000000007 4.979503409000692e-16 9.020562075079414e-17"/>
    <parent link="l_wrist_1"/>
    <child link="l_wrist_2"/>
    <limit lower="-0.3490658503988659" upper="0.5235987755982988" effort="1e+9" velocity="1e+9"/>
    <dynamics damping="2" friction="0"/>
  </joint>
  <link name="l_wrist_2">
    <inertial>
      <mass value="0.02118836"/>
      <origin xyz="-7.4183919215875535e-9 -7.897157534373368e-4 -0.0046969679508168105" rpy="0 -0 0"/>
      <inertia ixx="0.01" ixy="0" ixz="0" iyy="0.01" iyz="0" izz="0.01"/>
    </inertial>
    <visual>
      <origin xyz="0 0 0" rpy="0 -0 0"/>
      <geometry>
        <mesh filename="package://R1Mk3/meshes/simmechanics/sim_emorph_l_wrist_2.stl" scale="0.001 0.001 0.001"/>
      </geometry>
      <material name="">
        <color rgba="0.5 0.5 0.5 1"/>
      </material>
    </visual>
  </link>
  <joint name="l_wrist_pitch" type="revolute">
    <origin xyz="-2.220446049250313e-16 -1.942890293094024e-16 3.3306690738754696e-16" rpy="-2.3886932623546183e-16 7.632783294297951e-16 2.705372411553399e-16"/>
    <axis xyz="-1.820663438805227e-16 -1 -1.1667247808882283e-15"/>
    <parent link="l_wrist_2"/>
    <child link="l_hand_palm"/>
    <limit lower="-0.3490658503988659" upper="0.3490658503988659" effort="1e+9" velocity="1e+9"/>
    <dynamics damping="2" friction="0"/>
  </joint>
  <link name="l_hand_palm">
    <inertial>
      <mass value="0.20364988213680776"/>
      <origin xyz="-0.003950502224178115 0.0019881930945492288 -0.058015852438740544" rpy="0 -0 0"/>
      <inertia ixx="0.01" ixy="0" ixz="0" iyy="0.01" iyz="0" izz="0.01"/>
    </inertial>
    <visual>
      <origin xyz="0 0 0" rpy="0 -0 0"/>
      <geometry>
        <mesh filename="package://R1Mk3/meshes/simmechanics/sim_emorph_l_hand_palm.stl" scale="0.001 0.001 0.001"/>
      </geometry>
      <material name="">
        <color rgba="0.5 0.5 0.5 1"/>
      </material>
    </visual>
  </link>
  <joint name="l_index_add" type="revolute">
    <origin xyz="0.02249999999999995 -0.001500000000000501 -0.06859999999999994" rpy="-1.252207604908352e-15 -0.2967059728390365 1.0514741729292331e-16"/>
    <axis xyz="1.2345755072974314e-15 0.9999999999999999 -1.5044469189520817e-15"/>
    <parent link="l_hand_palm"/>
    <child link="l_hand_index_1"/>
    <limit lower="0" upper="0.2617993877991494" effort="1e+9" velocity="1e+9"/>
    <dynamics damping="2" friction="0"/>
  </joint>
  <link name="l_hand_index_1">
    <inertial>
      <mass value="0.01923264"/>
      <origin xyz="0.008430306749277854 0.0038510231844406384 -0.017148502808541133" rpy="0 -0 0"/>
      <inertia ixx="0.01" ixy="0" ixz="0" iyy="0.01" iyz="0" izz="0.01"/>
    </inertial>
    <visual>
      <origin xyz="0 0 0" rpy="0 -0 0"/>
      <geometry>
        <mesh filename="package://R1Mk3/meshes/simmechanics/sim_emorph_l_hand_index_1.stl" scale="0.001 0.001 0.001"/>
      </geometry>
      <material name="">
        <color rgba="0.5 0.5 0.5 1"/>
      </material>
    </visual>
  </link>
  <joint name="l_middle_prox" type="revolute">
    <origin xyz="0.009600000000000067 -0.0015000000000003344 -0.10300000000000004" rpy="5.479728916542452e-4 2.185751579730777e-15 -9.227288936186277e-16"/>
    <axis xyz="-1.0000000000000004 -3.7164962121615924e-17 3.448299563192889e-15"/>
    <parent link="l_hand_palm"/>
    <child link="l_hand_middle_1"/>
    <limit lower="0" upper="1.5707963267948966" effort="1e+9" velocity="1e+9"/>
    <dynamics damping="2" friction="0"/>
  </joint>
  <link name="l_hand_middle_1">
    <inertial>
      <mass value="0.007486366"/>
      <origin xyz="5.609414423399586e-5 0.0010938363913530202 -0.0174225309754375" rpy="0 -0 0"/>
      <inertia ixx="0.01" ixy="0" ixz="0" iyy="0.01" iyz="0" izz="0.01"/>
    </inertial>
    <visual>
      <origin xyz="0 0 0" rpy="0 -0 0"/>
      <geometry>
        <mesh filename="package://R1Mk3/meshes/simmechanics/sim_emorph_l_hand_middle_1.stl" scale="0.001 0.001 0.001"/>
      </geometry>
      <material name="">
        <color rgba="0.5 0.5 0.5 1"/>
      </material>
    </visual>
  </link>
  <joint name="l_pinkie_prox" type="revolute">
    <origin xyz="-0.0359823222495273 -0.0023883158589562137 -0.09206560929209884" rpy="-1.9934588677535882e-5 0.08728175651239214 0.026187612448127378"/>
    <axis xyz="-0.9999999998538297 7.644772464032958e-6 -1.5293757710324596e-5"/>
    <parent link="l_hand_palm"/>
    <child link="l_hand_pinkie_1"/>
    <limit lower="0" upper="1.5707963267948966" effort="1e+9" velocity="1e+9"/>
    <dynamics damping="2" friction="0"/>
  </joint>
  <link name="l_hand_pinkie_1">
    <inertial>
      <mass value="0.006357586"/>
      <origin xyz="3.6554577562467744e-5 0.0012135491682558897 -0.015052861815374408" rpy="0 -0 0"/>
      <inertia ixx="0.01" ixy="0" ixz="0" iyy="0.01" iyz="0" izz="0.01"/>
    </inertial>
    <visual>
      <origin xyz="0 0 0" rpy="0 -0 0"/>
      <geometry>
        <mesh filename="package://R1Mk3/meshes/simmechanics/sim_emorph_l_hand_pinkie_1.stl" scale="0.001 0.001 0.001"/>
      </geometry>
      <material name="">
        <color rgba="0.5 0.5 0.5 1"/>
      </material>
    </visual>
  </link>
  <joint name="l_ring_prox" type="revolute">
    <origin xyz="-0.015417755558119903 -0.0018498137284706784 -0.09788067183884441" rpy="-4.001819088243124e-5 0.08726646259973235 0.026179938779914515"/>
    <axis xyz="-1.0000000000000004 2.1873778829895052e-17 3.427813588530171e-15"/>
    <parent link="l_hand_palm"/>
    <child link="l_hand_ring_1"/>
    <limit lower="0" upper="1.5707963267948966" effort="1e+9" velocity="1e+9"/>
    <dynamics damping="2" friction="0"/>
  </joint>
  <link name="l_hand_ring_1">
    <inertial>
      <mass value="0.007486366"/>
      <origin xyz="5.610953414397422e-5 0.001113903955753115 -0.017428756834488968" rpy="0 -0 0"/>
      <inertia ixx="0.01" ixy="0" ixz="0" iyy="0.01" iyz="0" izz="0.01"/>
    </inertial>
    <visual>
      <origin xyz="0 0 0" rpy="0 -0 0"/>
      <geometry>
        <mesh filename="package://R1Mk3/meshes/simmechanics/sim_emorph_l_hand_ring_1.stl" scale="0.001 0.001 0.001"/>
      </geometry>
      <material name="">
        <color rgba="0.5 0.5 0.5 1"/>
      </material>
    </visual>
  </link>
  <joint name="l_thumb_add" type="revolute">
    <origin xyz="0.023374863256390335 -0.0029999999999996696 -0.034523838473555835" rpy="-0.040449700618591246 0.22331918636553127 2.960843541269833"/>
    <axis xyz="-2.831068712794149e-15 6.453171330633722e-16 -1"/>
    <parent link="l_hand_palm"/>
    <child link="l_hand_thumb_1"/>
    <limit lower="0" upper="1.7453292519943295" effort="1e+9" velocity="1e+9"/>
    <dynamics damping="2" friction="0"/>
  </joint>
  <link name="l_hand_thumb_1">
    <inertial>
      <mass value="0.029029542280278556"/>
      <origin xyz="-0.018039176431428286 -0.0028662725726853466 0.0021177719486905056" rpy="0 -0 0"/>
      <inertia ixx="0.01" ixy="0" ixz="0" iyy="0.01" iyz="0" izz="0.01"/>
    </inertial>
    <visual>
      <origin xyz="0 0 0" rpy="0 -0 0"/>
      <geometry>
        <mesh filename="package://R1Mk3/meshes/simmechanics/sim_emorph_l_hand_thumb_1.stl" scale="0.001 0.001 0.001"/>
      </geometry>
      <material name="">
        <color rgba="0.5 0.5 0.5 1"/>
      </material>
    </visual>
  </link>
  <joint name="l_thumb_prox" type="revolute">
    <origin xyz="-0.03809319745034652 -0.0032591938585445623 -0.0036017448037202193" rpy="1.430574412172528 -0.1970305979994932 1.5984202269739927"/>
    <axis xyz="-0.9999999999999998 1.5642875883514762e-11 1.7937541035850657e-10"/>
    <parent link="l_hand_thumb_1"/>
    <child link="l_hand_thumb_2"/>
    <limit lower="0" upper="1.5707963267948966" effort="1e+9" velocity="1e+9"/>
    <dynamics damping="2" friction="0"/>
  </joint>
  <link name="l_hand_thumb_2">
    <inertial>
      <mass value="0.00744305878263309"/>
      <origin xyz="1.1691393252494242e-5 3.0451625727886955e-4 -0.014894613059881514" rpy="0 -0 0"/>
      <inertia ixx="0.01" ixy="0" ixz="0" iyy="0.01" iyz="0" izz="0.01"/>
    </inertial>
    <visual>
      <origin xyz="0 0 0" rpy="0 -0 0"/>
      <geometry>
        <mesh filename="package://R1Mk3/meshes/simmechanics/sim_emorph_l_hand_thumb_2.stl" scale="0.001 0.001 0.001"/>
      </geometry>
      <material name="">
        <color rgba="0.5 0.5 0.5 1"/>
      </material>
    </visual>
  </link>
  <joint name="l_thumb_dist" type="revolute">
    <origin xyz="5.551115123125783e-17 -0.0037106254246526693 -0.034835057900884356" rpy="-0.0632887709773814 1.1102230246251565e-16 2.6684383869213243e-15"/>
    <axis xyz="-0.9999999999999997 4.263839635442148e-12 1.8000612565858527e-10"/>
    <parent link="l_hand_thumb_2"/>
    <child link="l_hand_thumb_3"/>
    <limit lower="0" upper="1.7697638615222502" effort="1e+9" velocity="1e+9"/>
    <dynamics damping="2" friction="0"/>
  </joint>
  <link name="l_hand_thumb_3">
    <inertial>
      <mass value="0.00839103052424309"/>
      <origin xyz="-2.8909987974501394e-5 0.0027777675147018788 -0.016956792352400222" rpy="0 -0 0"/>
      <inertia ixx="0.01" ixy="0" ixz="0" iyy="0.01" iyz="0" izz="0.01"/>
    </inertial>
    <visual>
      <origin xyz="0 0 0" rpy="0 -0 0"/>
      <geometry>
        <mesh filename="package://R1Mk3/meshes/simmechanics/sim_emorph_l_hand_thumb_3.stl" scale="0.001 0.001 0.001"/>
      </geometry>
      <material name="">
        <color rgba="0.5 0.5 0.5 1"/>
      </material>
    </visual>
  </link>
  <joint name="l_ring_dist" type="revolute">
    <origin xyz="-2.7755575615628914e-17 -0.0014999999999998626 -0.04000000000000009" rpy="-1.204430863606553e-4 -5.551115123125783e-17 -6.591949208711866e-17"/>
    <axis xyz="-1.0000000000000002 2.1042471424136875e-15 -3.3978286550657235e-16"/>
    <parent link="l_hand_ring_1"/>
    <child link="l_hand_ring_2"/>
    <limit lower="0" upper="1.7994344588061537" effort="1e+9" velocity="1e+9"/>
    <dynamics damping="2" friction="0"/>
  </joint>
  <link name="l_hand_ring_2">
    <inertial>
      <mass value="0.007251413"/>
      <origin xyz="4.433654030530642e-5 0.0027546754597598533 -0.01889085949732494" rpy="0 -0 0"/>
      <inertia ixx="0.01" ixy="0" ixz="0" iyy="0.01" iyz="0" izz="0.01"/>
    </inertial>
    <visual>
      <origin xyz="0 0 0" rpy="0 -0 0"/>
      <geometry>
        <mesh filename="package://R1Mk3/meshes/simmechanics/sim_emorph_l_hand_ring_2.stl" scale="0.001 0.001 0.001"/>
      </geometry>
      <material name="">
        <color rgba="0.5 0.5 0.5 1"/>
      </material>
    </visual>
  </link>
  <joint name="l_pinkie_dist" type="revolute">
    <origin xyz="0 -0.0014999999959518229 -0.03500000000409309" rpy="-4.4386812336867395e-5 3.608224830031759e-16 -3.400058012914541e-16"/>
    <axis xyz="-0.9999999998538295 7.645451295563488e-6 -1.5293418371443034e-5"/>
    <parent link="l_hand_pinkie_1"/>
    <child link="l_hand_pinkie_2"/>
    <limit lower="0" upper="1.7226399717184033" effort="1e+9" velocity="1e+9"/>
    <dynamics damping="2" friction="0"/>
  </joint>
  <link name="l_hand_pinkie_2">
    <inertial>
      <mass value="0.007240237"/>
      <origin xyz="2.2378292628411067e-5 0.0027712834790767915 -0.018930353878106154" rpy="0 -0 0"/>
      <inertia ixx="0.01" ixy="0" ixz="0" iyy="0.01" iyz="0" izz="0.01"/>
    </inertial>
    <visual>
      <origin xyz="0 0 0" rpy="0 -0 0"/>
      <geometry>
        <mesh filename="package://R1Mk3/meshes/simmechanics/sim_emorph_l_hand_pinkie_2.stl" scale="0.001 0.001 0.001"/>
      </geometry>
      <material name="">
        <color rgba="0.5 0.5 0.5 1"/>
      </material>
    </visual>
  </link>
  <joint name="l_middle_dist" type="revolute">
    <origin xyz="1.1102230246251565e-16 -0.0014999999999998626 -0.040000000000000036" rpy="0.017535706363213603 -2.3592239273284576e-16 -8.049862317525965e-17"/>
    <axis xyz="-1.0000000000000004 -4.611751723658998e-16 -2.8219344323360823e-15"/>
    <parent link="l_hand_middle_1"/>
    <child link="l_hand_middle_2"/>
    <limit lower="0" upper="1.7994344588061537" effort="1e+9" velocity="1e+9"/>
    <dynamics damping="2" friction="0"/>
  </joint>
  <link name="l_hand_middle_2">
    <inertial>
      <mass value="0.007251413"/>
      <origin xyz="4.4316320155644157e-5 0.0027547229469275236 -0.018890877319942878" rpy="0 -0 0"/>
      <inertia ixx="0.01" ixy="0" ixz="0" iyy="0.01" iyz="0" izz="0.01"/>
    </inertial>
    <visual>
      <origin xyz="0 0 0" rpy="0 -0 0"/>
      <geometry>
        <mesh filename="package://R1Mk3/meshes/simmechanics/sim_emorph_l_hand_middle_2.stl" scale="0.001 0.001 0.001"/>
      </geometry>
      <material name="">
        <color rgba="0.5 0.5 0.5 1"/>
      </material>
    </visual>
  </link>
  <joint name="l_index_prox" type="revolute">
    <origin xyz="0.009192533317427934 2.7755575615628914e-17 -0.03071345131623815" rpy="2.663478161982204e-16 8.326672684688674e-17 -1.3437669488421125e-16"/>
    <axis xyz="-0.9999999999999999 7.452822674324313e-16 4.1355807667287065e-15"/>
    <parent link="l_hand_index_1"/>
    <child link="l_hand_index_2"/>
    <limit lower="0" upper="1.5707963267948966" effort="1e+9" velocity="1e+9"/>
    <dynamics damping="2" friction="0"/>
  </joint>
  <link name="l_hand_index_2">
    <inertial>
      <mass value="0.007486366"/>
      <origin xyz="5.6100110941745274e-5 0.001113133191428639 -0.01742880406449937" rpy="0 -0 0"/>
      <inertia ixx="0.01" ixy="0" ixz="0" iyy="0.01" iyz="0" izz="0.01"/>
    </inertial>
    <visual>
      <origin xyz="0 0 0" rpy="0 -0 0"/>
      <geometry>
        <mesh filename="package://R1Mk3/meshes/simmechanics/sim_emorph_l_hand_index_2.stl" scale="0.001 0.001 0.001"/>
      </geometry>
      <material name="">
        <color rgba="0.5 0.5 0.5 1"/>
      </material>
    </visual>
  </link>
  <joint name="l_index_dist" type="revolute">
    <origin xyz="1.1102230246251565e-16 -0.0015000000000004732 -0.03999999999999959" rpy="-7.482326192699012e-8 -0 -2.1792633073548092e-16"/>
    <axis xyz="-0.9999999999999999 2.3144325758661227e-16 2.4980018780932863e-16"/>
    <parent link="l_hand_index_2"/>
    <child link="l_hand_index_3"/>
    <limit lower="0" upper="1.7994344588061537" effort="1e+9" velocity="1e+9"/>
    <dynamics damping="2" friction="0"/>
  </joint>
  <link name="l_hand_index_3">
    <inertial>
      <mass value="0.007251413"/>
      <origin xyz="4.431356673249148e-5 0.0027546711855188366 -0.018890916917498335" rpy="0 -0 0"/>
      <inertia ixx="0.01" ixy="0" ixz="0" iyy="0.01" iyz="0" izz="0.01"/>
    </inertial>
    <visual>
      <origin xyz="0 0 0" rpy="0 -0 0"/>
      <geometry>
        <mesh filename="package://R1Mk3/meshes/simmechanics/sim_emorph_l_hand_index_3.stl" scale="0.001 0.001 0.001"/>
      </geometry>
      <material name="">
        <color rgba="0.5 0.5 0.5 1"/>
      </material>
    </visual>
  </link>
  <joint name="neck_yaw_joint" type="revolute">
    <origin xyz="0.011679488023179689 -9.677503327256982e-18 0.1583779958185998" rpy="-1.2299256863622814e-15 0.17453292519943311 -7.040232933848852e-15"/>
    <axis xyz="-5.551115123125783e-17 1.0407701698506794e-17 -1.0000000000000002"/>
    <parent link="neck_link"/>
    <child link="head_link"/>
    <limit lower="-1.3962634015954636" upper="1.3962634015954636" effort="1e+9" velocity="1e+9"/>
    <dynamics damping="2" friction="0"/>
  </joint>
  <link name="head_link">
    <inertial>
      <mass value="2.000000000000001"/>
      <origin xyz="0.040406180045669704 -4.254262598951279e-6 0.0013074297220510012" rpy="0 -0 0"/>
      <inertia ixx="0.014268636485556811" ixy="-2.458069266749117e-7" ixz="5.550255193361971e-4" iyy="0.004580707834695642" iyz="-4.3342393217813975e-8" izz="0.01322280437463689"/>
    </inertial>
    <visual>
      <origin xyz="0 0 0" rpy="0 -0 0"/>
      <geometry>
        <mesh filename="package://R1Mk3/meshes/simmechanics/sim_cer_emorph_head.stl" scale="0.001 0.001 0.001"/>
      </geometry>
      <material name="">
        <color rgba="0.5 0.5 0.5 1"/>
      </material>
    </visual>
  </link>
  <link name="l_arm_ft"/>
  <joint name="l_arm_ft_fixed_joint" type="fixed">
    <origin xyz="-0.0043499999999990074 0.015000000000000069 -0.08430000000000004" rpy="3.14159265358978 -8.827137882952753e-17 -1.5707963267948901"/>
    <parent link="l_shoulder_2"/>
    <child link="l_arm_ft"/>
  </joint>
  <link name="r_arm_ft"/>
  <joint name="r_arm_ft_fixed_joint" type="fixed">
    <origin xyz="-0.0068499999999994746 -0.015000000000000041 -0.08429999999999993" rpy="-3.1415926535897865 1.4451318944920141e-16 1.5707963267948946"/>
    <parent link="r_shoulder_2"/>
    <child link="r_arm_ft"/>
  </joint>
  <link name="mobile_base_double_lidar"/>
  <joint name="mobile_base_double_lidar_fixed_joint" type="fixed">
    <origin xyz="0 0 0.031" rpy="0 -0 0"/>
    <parent link="mobile_base_body_link"/>
    <child link="mobile_base_double_lidar"/>
  </joint>
  <link name="torso"/>
  <joint name="torso_fixed_joint" type="fixed">
    <origin xyz="0 0 0" rpy="0 -0 0"/>
    <parent link="chest_link"/>
    <child link="torso"/>
  </joint>
  <link name="gaze"/>
  <joint name="gaze_fixed_joint" type="fixed">
    <origin xyz="0.051140163768605695 5.572796850796502e-17 -0.005076527617396742" rpy="-1.3962634015954642 -1.0632884247878182e-17 -1.5707963267948954"/>
    <parent link="head_link"/>
    <child link="gaze"/>
  </joint>
  <link name="depth_center"/>
  <joint name="depth_center_fixed_joint" type="fixed">
    <origin xyz="0.05132104198001797 5.593391840255621e-17 0.05375374559540269" rpy="-1.3962634015954642 -1.0632884247878182e-17 -1.5707963267948954"/>
    <parent link="head_link"/>
    <child link="depth_center"/>
  </joint>
  <link name="depth"/>
  <joint name="depth_fixed_joint" type="fixed">
    <origin xyz="0.05132675386498539 0.04448710000000006 0.05375475275483321" rpy="-1.3962634015954642 -1.0632884247878182e-17 -1.5707963267948954"/>
    <parent link="head_link"/>
    <child link="depth"/>
  </joint>
  <link name="depth_rgb"/>
  <joint name="depth_rgb_fixed_joint" type="fixed">
    <origin xyz="0.05132675386498542 0.01848710000000006 0.05375475275483321" rpy="-1.3962634015954642 -1.0632884247878182e-17 -1.5707963267948954"/>
    <parent link="head_link"/>
    <child link="depth_rgb"/>
  </joint>
  <link name="head_leopard_cyclopic"/>
  <joint name="head_leopard_cyclopic_fixed_joint" type="fixed">
    <origin xyz="0.06309093082190956 6.933524157692891e-17 -0.05739097266709292" rpy="-1.3962634015954642 -1.0632884247878182e-17 -1.5707963267948954"/>
    <parent link="head_link"/>
    <child link="head_leopard_cyclopic"/>
  </joint>
  <link name="head_leopard_left"/>
  <joint name="head_leopard_left_fixed_joint" type="fixed">
    <origin xyz="0.06309093082190953 0.033510500000000075 -0.05739097266709292" rpy="-1.3962634015954642 -1.0632884247878182e-17 -1.5707963267948954"/>
    <parent link="head_link"/>
    <child link="head_leopard_left"/>
  </joint>
  <link name="head_leopard_right"/>
  <joint name="head_leopard_right_fixed_joint" type="fixed">
    <origin xyz="0.06309093082190959 -0.03351049999999993 -0.05739097266709292" rpy="-1.3962634015954642 -1.0632884247878182e-17 -1.5707963267948954"/>
    <parent link="head_link"/>
    <child link="head_leopard_right"/>
  </joint>
  <link name="l_hand_index_skin_0"/>
  <joint name="l_hand_index_skin_0_fixed_joint" type="fixed">
    <origin xyz="-1.3877787807814457e-17 -0.002433918058236534 -0.03140545777888892" rpy="-5.286130912234566e-16 1.2225055986691187 -1.570796326794897"/>
    <parent link="l_hand_index_3"/>
    <child link="l_hand_index_skin_0"/>
  </joint>
  <link name="l_hand_index_skin_1"/>
  <joint name="l_hand_index_skin_1_fixed_joint" type="fixed">
    <origin xyz="0.0032999999999999974 -0.0031311476143919548 -0.033280418005286916" rpy="-5.049308804587452e-16 1.2200949024613605 -1.570796326794897"/>
    <parent link="l_hand_index_3"/>
    <child link="l_hand_index_skin_1"/>
  </joint>
  <link name="l_hand_index_skin_10"/>
  <joint name="l_hand_index_skin_10_fixed_joint" type="fixed">
    <origin xyz="-0.003300000000000025 -0.004081940988398508 -0.03776668459795801" rpy="-3.1415926535897913 1.5049109712528748 1.5707963267948997"/>
    <parent link="l_hand_index_3"/>
    <child link="l_hand_index_skin_10"/>
  </joint>
  <link name="l_hand_index_skin_11"/>
  <joint name="l_hand_index_skin_11_fixed_joint" type="fixed">
    <origin xyz="-0.0033000000000000113 -0.0031311476143919548 -0.033280418005286916" rpy="-5.049308804587451e-16 1.2200949024613599 -1.570796326794897"/>
    <parent link="l_hand_index_3"/>
    <child link="l_hand_index_skin_11"/>
  </joint>
  <link name="l_hand_index_skin_2"/>
  <joint name="l_hand_index_skin_2_fixed_joint" type="fixed">
    <origin xyz="-6.938893903907228e-18 -0.003758241653579991 -0.035192049408458936" rpy="-6.620570360759466e-16 1.3056813328515076 -1.5707963267948972"/>
    <parent link="l_hand_index_3"/>
    <child link="l_hand_index_skin_2"/>
  </joint>
  <link name="l_hand_index_skin_3"/>
  <joint name="l_hand_index_skin_3_fixed_joint" type="fixed">
    <origin xyz="0.0032999999999999974 -0.004081940988398425 -0.03776668459795801" rpy="-3.1415926535897913 1.5049109712528748 1.5707963267948997"/>
    <parent link="l_hand_index_3"/>
    <child link="l_hand_index_skin_3"/>
  </joint>
  <link name="l_hand_index_skin_4"/>
  <joint name="l_hand_index_skin_4_fixed_joint" type="fixed">
    <origin xyz="0.005929525942276338 -0.001192320688661208 -0.03799999999999998" rpy="3.1415926535897922 1.2994442229713599 2.7771555423255903"/>
    <parent link="l_hand_index_3"/>
    <child link="l_hand_index_skin_4"/>
  </joint>
  <link name="l_hand_index_skin_5"/>
  <joint name="l_hand_index_skin_5_fixed_joint" type="fixed">
    <origin xyz="1.3877787807814457e-17 -0.0034840921633512434 -0.03982136611863335" rpy="-3.1415926535897927 1.088751329798359 1.5707963267948972"/>
    <parent link="l_hand_index_3"/>
    <child link="l_hand_index_skin_5"/>
  </joint>
  <link name="l_hand_index_skin_6"/>
  <joint name="l_hand_index_skin_6_fixed_joint" type="fixed">
    <origin xyz="0.0032999999999999696 -0.001828801718873424 -0.04176963440415199" rpy="3.141592653589793 0.7788155893137823 2.5320677565812"/>
    <parent link="l_hand_index_3"/>
    <child link="l_hand_index_skin_6"/>
  </joint>
  <link name="l_hand_index_skin_7"/>
  <joint name="l_hand_index_skin_7_fixed_joint" type="fixed">
    <origin xyz="-6.938893903907228e-18 -2.9018466437888413e-4 -0.043259640911881" rpy="-3.141592653589793 0.6209480183022732 1.571212482632116"/>
    <parent link="l_hand_index_3"/>
    <child link="l_hand_index_skin_7"/>
  </joint>
  <link name="l_hand_index_skin_8"/>
  <joint name="l_hand_index_skin_8_fixed_joint" type="fixed">
    <origin xyz="-0.003300000000000025 -0.0018288017188733685 -0.041769634404151934" rpy="-3.1415926535897927 0.7788155893137829 0.6095248970085935"/>
    <parent link="l_hand_index_3"/>
    <child link="l_hand_index_skin_8"/>
  </joint>
  <link name="l_hand_index_skin_9"/>
  <joint name="l_hand_index_skin_9_fixed_joint" type="fixed">
    <origin xyz="-0.005929525942276387 -0.001192320688661208 -0.03799999999999998" rpy="-3.141592653589792 1.2994442229713608 0.36443711126420336"/>
    <parent link="l_hand_index_3"/>
    <child link="l_hand_index_skin_9"/>
  </joint>
  <link name="l_hand_middle_skin_0"/>
  <joint name="l_hand_middle_skin_0_fixed_joint" type="fixed">
    <origin xyz="0 -0.002433918058236506 -0.03140545777888887" rpy="1.626501819149097e-16 1.22250559866912 -1.5707963267948966"/>
    <parent link="l_hand_middle_2"/>
    <child link="l_hand_middle_skin_0"/>
  </joint>
  <link name="l_hand_middle_skin_1"/>
  <joint name="l_hand_middle_skin_1_fixed_joint" type="fixed">
    <origin xyz="0.0033000000000000043 -0.003131147614391927 -0.033280418005286805" rpy="1.615778817467984e-16 1.2200949024613614 -1.5707963267948966"/>
    <parent link="l_hand_middle_2"/>
    <child link="l_hand_middle_skin_1"/>
  </joint>
  <link name="l_hand_middle_skin_10"/>
  <joint name="l_hand_middle_skin_10_fixed_joint" type="fixed">
    <origin xyz="-0.003299999999999973 -0.004081940988398425 -0.037766684597957956" rpy="3.1415926535897922 1.5049109712528765 1.5707963267948972"/>
    <parent link="l_hand_middle_2"/>
    <child link="l_hand_middle_skin_10"/>
  </joint>
  <link name="l_hand_middle_skin_11"/>
  <joint name="l_hand_middle_skin_11_fixed_joint" type="fixed">
    <origin xyz="-0.003299999999999994 -0.0031311476143918715 -0.033280418005286805" rpy="1.615778817467984e-16 1.2200949024613614 -1.5707963267948966"/>
    <parent link="l_hand_middle_2"/>
    <child link="l_hand_middle_skin_11"/>
  </joint>
  <link name="l_hand_middle_skin_2"/>
  <joint name="l_hand_middle_skin_2_fixed_joint" type="fixed">
    <origin xyz="-6.938893903907228e-18 -0.0037582416535799634 -0.035192049408458936" rpy="2.118582515443029e-16 1.305681332851508 -1.5707963267948966"/>
    <parent link="l_hand_middle_2"/>
    <child link="l_hand_middle_skin_2"/>
  </joint>
  <link name="l_hand_middle_skin_3"/>
  <joint name="l_hand_middle_skin_3_fixed_joint" type="fixed">
    <origin xyz="0.0033000000000000113 -0.004081940988398369 -0.03776668459795801" rpy="3.1415926535897922 1.5049109712528765 1.5707963267948968"/>
    <parent link="l_hand_middle_2"/>
    <child link="l_hand_middle_skin_3"/>
  </joint>
  <link name="l_hand_middle_skin_4"/>
  <joint name="l_hand_middle_skin_4_fixed_joint" type="fixed">
    <origin xyz="0.005929525942276356 -0.0011923206886611804 -0.03799999999999998" rpy="3.1415926535897922 1.2994442229713614 2.7771555423255903"/>
    <parent link="l_hand_middle_2"/>
    <child link="l_hand_middle_skin_4"/>
  </joint>
  <link name="l_hand_middle_skin_5"/>
  <joint name="l_hand_middle_skin_5_fixed_joint" type="fixed">
    <origin xyz="1.0408340855860843e-17 -0.0034840921633511046 -0.03982136611863335" rpy="3.141592653589793 1.0887513297983595 1.570796326794897"/>
    <parent link="l_hand_middle_2"/>
    <child link="l_hand_middle_skin_5"/>
  </joint>
  <link name="l_hand_middle_skin_6"/>
  <joint name="l_hand_middle_skin_6_fixed_joint" type="fixed">
    <origin xyz="0.003300000000000008 -0.0018288017188733685 -0.04176963440415188" rpy="3.1415926535897927 0.7788155893137828 2.5320677565811995"/>
    <parent link="l_hand_middle_2"/>
    <child link="l_hand_middle_skin_6"/>
  </joint>
  <link name="l_hand_middle_skin_7"/>
  <joint name="l_hand_middle_skin_7_fixed_joint" type="fixed">
    <origin xyz="-3.469446951953614e-18 -2.9018466437885637e-4 -0.04325964091188095" rpy="3.141592653589793 0.6209480183022731 1.571212482632116"/>
    <parent link="l_hand_middle_2"/>
    <child link="l_hand_middle_skin_7"/>
  </joint>
  <link name="l_hand_middle_skin_8"/>
  <joint name="l_hand_middle_skin_8_fixed_joint" type="fixed">
    <origin xyz="-0.003299999999999994 -0.0018288017188733963 -0.041769634404151934" rpy="-3.141592653589793 0.7788155893137828 0.6095248970085932"/>
    <parent link="l_hand_middle_2"/>
    <child link="l_hand_middle_skin_8"/>
  </joint>
  <link name="l_hand_middle_skin_9"/>
  <joint name="l_hand_middle_skin_9_fixed_joint" type="fixed">
    <origin xyz="-0.0059295259422763695 -0.001192320688661208 -0.03799999999999998" rpy="-3.1415926535897922 1.2994442229713608 0.3644371112642029"/>
    <parent link="l_hand_middle_2"/>
    <child link="l_hand_middle_skin_9"/>
  </joint>
  <link name="l_hand_pinkie_skin_0"/>
  <joint name="l_hand_pinkie_skin_0_fixed_joint" type="fixed">
    <origin xyz="1.1364587082021704e-6 -0.0024339180633243807 -0.03140545776518122" rpy="4.4810406990145916e-5 1.222505598463966 -1.5707618523704918"/>
    <parent link="l_hand_pinkie_2"/>
    <child link="l_hand_pinkie_skin_0"/>
  </joint>
  <link name="l_hand_pinkie_skin_1"/>
  <joint name="l_hand_pinkie_skin_1_fixed_joint" type="fixed">
    <origin xyz="0.003301159802142385 -0.003131172849448638 -0.033280367523160825" rpy="4.451498643578038e-5 1.2200949022586114 -1.5707621667995164"/>
    <parent link="l_hand_pinkie_2"/>
    <child link="l_hand_pinkie_skin_1"/>
  </joint>
  <link name="l_hand_pinkie_skin_10"/>
  <joint name="l_hand_pinkie_skin_10_fixed_joint" type="fixed">
    <origin xyz="-0.003298778855785424 -0.004081915763448796 -0.037766735051979805" rpy="3.14136036390978 1.5049109693635563 1.5705568956520668"/>
    <parent link="l_hand_pinkie_2"/>
    <child link="l_hand_pinkie_skin_10"/>
  </joint>
  <link name="l_hand_pinkie_skin_11"/>
  <joint name="l_hand_pinkie_skin_11_fixed_joint" type="fixed">
    <origin xyz="-0.003298840196892895 -0.0031311223894700813 -0.033280468459722046" rpy="4.4514986435780384e-5 1.2200949022586114 -1.5707621667995162"/>
    <parent link="l_hand_pinkie_2"/>
    <child link="l_hand_pinkie_skin_11"/>
  </joint>
  <link name="l_hand_pinkie_skin_2"/>
  <joint name="l_hand_pinkie_skin_2_fixed_joint" type="fixed">
    <origin xyz="1.1842435866243894e-6 -0.0037582416586290635 -0.0351920493944633" rpy="5.8367315429754e-5 1.305681332537708 -1.570747644146057"/>
    <parent link="l_hand_pinkie_2"/>
    <child link="l_hand_pinkie_skin_2"/>
  </joint>
  <link name="l_hand_pinkie_skin_3"/>
  <joint name="l_hand_pinkie_skin_3_fixed_joint" type="fixed">
    <origin xyz="0.0033012211432498564 -0.00408196622342738 -0.03776663411541853" rpy="3.14136036390978 1.5049109693635563 1.5705568956520668"/>
    <parent link="l_hand_pinkie_2"/>
    <child link="l_hand_pinkie_skin_3"/>
  </joint>
  <link name="l_hand_pinkie_skin_4"/>
  <joint name="l_hand_pinkie_skin_4_fixed_joint" type="fixed">
    <origin xyz="0.005930772745783179 -0.0011923660276871306 -0.037999909302654955" rpy="3.141572315440389 1.2994585118923023 2.7771283028717044"/>
    <parent link="l_hand_pinkie_2"/>
    <child link="l_hand_pinkie_skin_4"/>
  </joint>
  <link name="l_hand_pinkie_skin_5"/>
  <joint name="l_hand_pinkie_skin_5_fixed_joint" type="fixed">
    <origin xyz="1.2571376604118834e-6 -0.003484092168408337 -0.03982136610406428" rpy="3.1415596646367674 1.0887513294579219 1.570759451523612"/>
    <parent link="l_hand_pinkie_2"/>
    <child link="l_hand_pinkie_skin_5"/>
  </joint>
  <link name="l_hand_pinkie_skin_6"/>
  <joint name="l_hand_pinkie_skin_6_fixed_joint" type="fixed">
    <origin xyz="0.0033012995883024976 -0.00182882695396816 -0.04176958392088087" rpy="3.1415803523625088 0.7788281285900823 2.532051470238895"/>
    <parent link="l_hand_pinkie_2"/>
    <child link="l_hand_pinkie_skin_6"/>
  </joint>
  <link name="l_hand_pinkie_skin_7"/>
  <joint name="l_hand_pinkie_skin_7_fixed_joint" type="fixed">
    <origin xyz="1.3341394995113054e-6 -2.901846695293475e-4 -0.04325964089653633" rpy="3.141573850067606 0.6209480244661378 1.571193897169884"/>
    <parent link="l_hand_pinkie_2"/>
    <child link="l_hand_pinkie_skin_7"/>
  </joint>
  <link name="l_hand_pinkie_skin_8"/>
  <joint name="l_hand_pinkie_skin_8_fixed_joint" type="fixed">
    <origin xyz="-0.003298700410732769 -0.0018287764939896034 -0.041769684857442146" rpy="3.1415803529363586 0.7788030498279591 0.6095086111791652"/>
    <parent link="l_hand_pinkie_2"/>
    <child link="l_hand_pinkie_skin_8"/>
  </joint>
  <link name="l_hand_pinkie_skin_9"/>
  <joint name="l_hand_pinkie_skin_9_fixed_joint" type="fixed">
    <origin xyz="-0.005928279137036092 -0.0011922753598834768 -0.0380000906680969" rpy="3.14157231834453 1.2994299338602708 0.36440987468608"/>
    <parent link="l_hand_pinkie_2"/>
    <child link="l_hand_pinkie_skin_9"/>
  </joint>
  <link name="l_hand_ring_skin_0"/>
  <joint name="l_hand_ring_skin_0_fixed_joint" type="fixed">
    <origin xyz="6.938893903907228e-18 -0.0024339180582365616 -0.03140545777888881" rpy="5.692756367021836e-16 1.222505598669119 -1.5707963267948966"/>
    <parent link="l_hand_ring_2"/>
    <child link="l_hand_ring_skin_0"/>
  </joint>
  <link name="l_hand_ring_skin_1"/>
  <joint name="l_hand_ring_skin_1_fixed_joint" type="fixed">
    <origin xyz="0.0033000000000000095 -0.0031311476143919548 -0.033280418005286805" rpy="5.655225861137946e-16 1.2200949024613605 -1.5707963267948966"/>
    <parent link="l_hand_ring_2"/>
    <child link="l_hand_ring_skin_1"/>
  </joint>
  <link name="l_hand_ring_skin_10"/>
  <joint name="l_hand_ring_skin_10_fixed_joint" type="fixed">
    <origin xyz="-0.0033000000000000043 -0.004081940988398369 -0.037766684597957956" rpy="3.141592653589791 1.5049109712528765 1.5707963267948966"/>
    <parent link="l_hand_ring_2"/>
    <child link="l_hand_ring_skin_10"/>
  </joint>
  <link name="l_hand_ring_skin_11"/>
  <joint name="l_hand_ring_skin_11_fixed_joint" type="fixed">
    <origin xyz="-0.0032999999999999887 -0.003131147614391927 -0.03328041800528686" rpy="5.655225861137945e-16 1.2200949024613605 -1.5707963267948966"/>
    <parent link="l_hand_ring_2"/>
    <child link="l_hand_ring_skin_11"/>
  </joint>
  <link name="l_hand_ring_skin_2"/>
  <joint name="l_hand_ring_skin_2_fixed_joint" type="fixed">
    <origin xyz="-5.204170427930421e-18 -0.003758241653579991 -0.03519204940845888" rpy="6.885393175189842e-16 1.305681332851508 -1.5707963267948963"/>
    <parent link="l_hand_ring_2"/>
    <child link="l_hand_ring_skin_2"/>
  </joint>
  <link name="l_hand_ring_skin_3"/>
  <joint name="l_hand_ring_skin_3_fixed_joint" type="fixed">
    <origin xyz="0.003300000000000008 -0.004081940988398397 -0.037766684597957956" rpy="3.141592653589791 1.5049109712528765 1.5707963267948968"/>
    <parent link="l_hand_ring_2"/>
    <child link="l_hand_ring_skin_3"/>
  </joint>
  <link name="l_hand_ring_skin_4"/>
  <joint name="l_hand_ring_skin_4_fixed_joint" type="fixed">
    <origin xyz="0.005929525942276373 -0.0011923206886612359 -0.03799999999999992" rpy="3.141592653589792 1.299444222971361 2.7771555423255903"/>
    <parent link="l_hand_ring_2"/>
    <child link="l_hand_ring_skin_4"/>
  </joint>
  <link name="l_hand_ring_skin_5"/>
  <joint name="l_hand_ring_skin_5_fixed_joint" type="fixed">
    <origin xyz="6.938893903907228e-18 -0.00348409216335116 -0.03982136611863335" rpy="3.1415926535897927 1.088751329798359 1.5707963267948968"/>
    <parent link="l_hand_ring_2"/>
    <child link="l_hand_ring_skin_5"/>
  </joint>
  <link name="l_hand_ring_skin_6"/>
  <joint name="l_hand_ring_skin_6_fixed_joint" type="fixed">
    <origin xyz="0.003299999999999994 -0.0018288017188733685 -0.041769634404151934" rpy="3.1415926535897927 0.7788155893137829 2.5320677565811995"/>
    <parent link="l_hand_ring_2"/>
    <child link="l_hand_ring_skin_6"/>
  </joint>
  <link name="l_hand_ring_skin_7"/>
  <joint name="l_hand_ring_skin_7_fixed_joint" type="fixed">
    <origin xyz="1.9081958235744878e-17 -2.9018466437888413e-4 -0.04325964091188089" rpy="3.141592653589793 0.6209480183022733 1.5712124826321159"/>
    <parent link="l_hand_ring_2"/>
    <child link="l_hand_ring_skin_7"/>
  </joint>
  <link name="l_hand_ring_skin_8"/>
  <joint name="l_hand_ring_skin_8_fixed_joint" type="fixed">
    <origin xyz="-0.0032999999999999852 -0.0018288017188733685 -0.041769634404151934" rpy="-3.141592653589793 0.7788155893137823 0.6095248970085929"/>
    <parent link="l_hand_ring_2"/>
    <child link="l_hand_ring_skin_8"/>
  </joint>
  <link name="l_hand_ring_skin_9"/>
  <joint name="l_hand_ring_skin_9_fixed_joint" type="fixed">
    <origin xyz="-0.005929525942276356 -0.0011923206886611804 -0.03799999999999992" rpy="-3.1415926535897927 1.2994442229713594 0.3644371112642026"/>
    <parent link="l_hand_ring_2"/>
    <child link="l_hand_ring_skin_9"/>
  </joint>
  <link name="l_hand_thumb_skin_0"/>
  <joint name="l_hand_thumb_skin_0_fixed_joint" type="fixed">
    <origin xyz="-2.2125551391027898e-11 -0.002433587294553452 -0.026405457778888853" rpy="-1.1609482034540493e-11 -1.2225055986691151 1.5707963268683354"/>
    <parent link="l_hand_thumb_3"/>
    <child link="l_hand_thumb_skin_0"/>
  </joint>
  <link name="l_hand_thumb_skin_1"/>
  <joint name="l_hand_thumb_skin_1_fixed_joint" type="fixed">
    <origin xyz="0.003299999977533996 -0.0031308168507229173 -0.028280418005880898" rpy="3.141592653571252 -0.6108652381980162 -1.570796327023918"/>
    <parent link="l_hand_thumb_3"/>
    <child link="l_hand_thumb_skin_1"/>
  </joint>
  <link name="l_hand_thumb_skin_10"/>
  <joint name="l_hand_thumb_skin_10_fixed_joint" type="fixed">
    <origin xyz="-0.003300000023277627 -0.004081610224701271 -0.03276668459736391" rpy="3.1415926535743104 -1.5049109712528579 -1.5707963267955443"/>
    <parent link="l_hand_thumb_3"/>
    <child link="l_hand_thumb_skin_10"/>
  </joint>
  <link name="l_hand_thumb_skin_11"/>
  <joint name="l_hand_thumb_skin_11_fixed_joint" type="fixed">
    <origin xyz="-0.003300000022465971 -0.0031308168506947176 -0.02828041800469284" rpy="-1.1627790682026587e-11 -1.220094902461357 1.5707963268688572"/>
    <parent link="l_hand_thumb_3"/>
    <child link="l_hand_thumb_skin_11"/>
  </joint>
  <link name="l_hand_thumb_skin_2"/>
  <joint name="l_hand_thumb_skin_2_fixed_joint" type="fixed">
    <origin xyz="-2.2812751687695254e-11 -0.0037579108898968816 -0.030192049408458887" rpy="-1.0975528579504133e-11 -1.305681332851502 1.5707963268508718"/>
    <parent link="l_hand_thumb_3"/>
    <child link="l_hand_thumb_skin_2"/>
  </joint>
  <link name="l_hand_thumb_skin_3"/>
  <joint name="l_hand_thumb_skin_3_fixed_joint" type="fixed">
    <origin xyz="0.0032999999767223676 -0.004081610224729415 -0.03276668459855195" rpy="3.141592653571252 -0.6108652381980161 -1.570796327023918"/>
    <parent link="l_hand_thumb_3"/>
    <child link="l_hand_thumb_skin_3"/>
  </joint>
  <link name="l_hand_thumb_skin_4"/>
  <joint name="l_hand_thumb_skin_4_fixed_joint" type="fixed">
    <origin xyz="0.005929525918969086 -0.0011919899250033839 -0.03300000000106727" rpy="1.570796323948815 -1.507507555817487 -1.5707963239587988"/>
    <parent link="l_hand_thumb_3"/>
    <child link="l_hand_thumb_skin_4"/>
  </joint>
  <link name="l_hand_thumb_skin_5"/>
  <joint name="l_hand_thumb_skin_5_fixed_joint" type="fixed">
    <origin xyz="-2.364491935580304e-11 -0.0034837613996680783 -0.034821366118633304" rpy="3.141592653576766 -1.0887513297983578 -1.57079632687865"/>
    <parent link="l_hand_thumb_3"/>
    <child link="l_hand_thumb_skin_5"/>
  </joint>
  <link name="l_hand_thumb_skin_6"/>
  <joint name="l_hand_thumb_skin_6_fixed_joint" type="fixed">
    <origin xyz="0.0032999999760114918 -0.0018284709552043588 -0.03676963440474591" rpy="-4.620360040236946e-16 -0.7657426237199224 -1.5707963267949006"/>
    <parent link="l_hand_thumb_3"/>
    <child link="l_hand_thumb_skin_6"/>
  </joint>
  <link name="l_hand_thumb_skin_7"/>
  <joint name="l_hand_thumb_skin_7_fixed_joint" type="fixed">
    <origin xyz="-2.4250157437677444e-11 -2.898539006957468e-4 -0.038259640911880916" rpy="-3.1415628662062685 -0.620948017682013 -1.5704313693095489"/>
    <parent link="l_hand_thumb_3"/>
    <child link="l_hand_thumb_skin_7"/>
  </joint>
  <link name="l_hand_thumb_skin_8"/>
  <joint name="l_hand_thumb_skin_8_fixed_joint" type="fixed">
    <origin xyz="-0.0033000000239885308 -0.0018284709551761869 -0.036769634403557905" rpy="3.071469777395219 -0.7763161157147594 -2.432155397543958"/>
    <parent link="l_hand_thumb_3"/>
    <child link="l_hand_thumb_skin_8"/>
  </joint>
  <link name="l_hand_thumb_skin_9"/>
  <joint name="l_hand_thumb_skin_9_fixed_joint" type="fixed">
    <origin xyz="-0.005929525965583604 -0.0011919899249527854 -0.032999999998932564" rpy="2.9258803345668243 -1.2928372761145006 -2.5531132071417293"/>
    <parent link="l_hand_thumb_3"/>
    <child link="l_hand_thumb_skin_9"/>
  </joint>
  <link name="base_link"/>
  <joint name="base_link_fixed_joint" type="fixed">
    <origin xyz="0 0 0" rpy="0 -0 0"/>
    <parent link="mobile_base_body_link"/>
    <child link="base_link"/>
  </joint>
  <link name="mobile_base_lidar_B"/>
  <joint name="mobile_base_lidar_B_fixed_joint" type="fixed">
    <origin xyz="-0.085 0 0.031" rpy="0 -0 3.141592653589793"/>
    <parent link="mobile_base_body_link"/>
    <child link="mobile_base_lidar_B"/>
  </joint>
  <link name="mobile_base_lidar_F"/>
  <joint name="mobile_base_lidar_F_fixed_joint" type="fixed">
    <origin xyz="0.07 0 0.031" rpy="0 -0 0"/>
    <parent link="mobile_base_body_link"/>
    <child link="mobile_base_lidar_F"/>
  </joint>
  <link name="r_hand_index_skin_0"/>
  <joint name="r_hand_index_skin_0_fixed_joint" type="fixed">
    <origin xyz="3.469446951953614e-17 -0.002433928982192385 -0.03140545693228214" rpy="2.8463754567347765e-16 1.2225052508328904 -1.5707963267948963"/>
    <parent link="r_hand_index_3"/>
    <child link="r_hand_index_skin_0"/>
  </joint>
  <link name="r_hand_index_skin_1"/>
  <joint name="r_hand_index_skin_1_fixed_joint" type="fixed">
    <origin xyz="0.0032999999999999974 -0.0031311591905268388 -0.033280416916158295" rpy="2.4236659217065896e-16 1.2200945546251307 -1.5707963267948963"/>
    <parent link="r_hand_index_3"/>
    <child link="r_hand_index_skin_1"/>
  </joint>
  <link name="r_hand_index_skin_10"/>
  <joint name="r_hand_index_skin_10_fixed_joint" type="fixed">
    <origin xyz="-0.0032999999999999696 -0.0040819541250192715 -0.03776668317810877" rpy="3.1415926535897922 1.5049113190891115 1.5707963267948952"/>
    <parent link="r_hand_index_3"/>
    <child link="r_hand_index_skin_10"/>
  </joint>
  <link name="r_hand_index_skin_11"/>
  <joint name="r_hand_index_skin_11_fixed_joint" type="fixed">
    <origin xyz="-0.0033000000000000043 -0.0031311591905267833 -0.033280416916158295" rpy="2.4236659217065896e-16 1.2200945546251307 -1.5707963267948963"/>
    <parent link="r_hand_index_3"/>
    <child link="r_hand_index_skin_11"/>
  </joint>
  <link name="r_hand_index_skin_2"/>
  <joint name="r_hand_index_skin_2_fixed_joint" type="fixed">
    <origin xyz="6.938893903907228e-18 -0.003758253894649538 -0.03519204810120419" rpy="3.177869701880381e-16 1.3056809850152777 -1.5707963267948961"/>
    <parent link="r_hand_index_3"/>
    <child link="r_hand_index_skin_2"/>
  </joint>
  <link name="r_hand_index_skin_3"/>
  <joint name="r_hand_index_skin_3_fixed_joint" type="fixed">
    <origin xyz="0.0033000000000000043 -0.004081954125019299 -0.03776668317810877" rpy="3.1415926535897922 1.5049113190891115 1.5707963267948952"/>
    <parent link="r_hand_index_3"/>
    <child link="r_hand_index_skin_3"/>
  </joint>
  <link name="r_hand_index_skin_4"/>
  <joint name="r_hand_index_skin_4_fixed_joint" type="fixed">
    <origin xyz="0.005929525942276359 -0.0011923339064377758 -0.03799999958526529" rpy="-3.1415914410880514 1.299444346948154 2.777156710461142"/>
    <parent link="r_hand_index_3"/>
    <child link="r_hand_index_skin_4"/>
  </joint>
  <link name="r_hand_index_skin_5"/>
  <joint name="r_hand_index_skin_5_fixed_joint" type="fixed">
    <origin xyz="6.938893903907228e-18 -0.003484106014664784 -0.03982136490673749" rpy="3.141592653589793 1.0887516776345891 1.5707963267948963"/>
    <parent link="r_hand_index_3"/>
    <child link="r_hand_index_skin_5"/>
  </joint>
  <link name="r_hand_index_skin_6"/>
  <joint name="r_hand_index_skin_6_fixed_joint" type="fixed">
    <origin xyz="0.0033000000000000043 -0.0018288162478654058 -0.04176963376802595" rpy="-3.141592252887904 0.7788157884423246 2.5320680380490246"/>
    <parent link="r_hand_index_3"/>
    <child link="r_hand_index_skin_6"/>
  </joint>
  <link name="r_hand_index_skin_7"/>
  <joint name="r_hand_index_skin_7_fixed_joint" type="fixed">
    <origin xyz="-2.7755575615628914e-17 -2.901997116492028e-4 -0.04325964081094158" rpy="-3.1415926534118155 0.6209483661384732 1.5712124827356644"/>
    <parent link="r_hand_index_3"/>
    <child link="r_hand_index_skin_7"/>
  </joint>
  <link name="r_hand_index_skin_8"/>
  <joint name="r_hand_index_skin_8_fixed_joint" type="fixed">
    <origin xyz="-0.0032999999999999835 -0.0018288162478654058 -0.04176963376802595" rpy="3.141592252887904 0.7788157884423246 0.6095246155407682"/>
    <parent link="r_hand_index_3"/>
    <child link="r_hand_index_skin_8"/>
  </joint>
  <link name="r_hand_index_skin_9"/>
  <joint name="r_hand_index_skin_9_fixed_joint" type="fixed">
    <origin xyz="-0.005929525942276352 -0.0011923339064378036 -0.03799999958526534" rpy="3.1415914410880514 1.2994443469481536 0.36443594312865046"/>
    <parent link="r_hand_index_3"/>
    <child link="r_hand_index_skin_9"/>
  </joint>
  <link name="r_hand_middle_skin_0"/>
  <joint name="r_hand_middle_skin_0_fixed_joint" type="fixed">
    <origin xyz="-2.0816681711721685e-17 -0.002433918058236506 -0.03140545777888887" rpy="-2.4397527287236403e-16 1.2225055986691193 -1.570796326794897"/>
    <parent link="r_hand_middle_2"/>
    <child link="r_hand_middle_skin_0"/>
  </joint>
  <link name="r_hand_middle_skin_1"/>
  <joint name="r_hand_middle_skin_1_fixed_joint" type="fixed">
    <origin xyz="0.003299999999999987 -0.0031311476143918993 -0.033280418005286916" rpy="-2.4236682262019717e-16 1.2200949024613599 -1.5707963267948972"/>
    <parent link="r_hand_middle_2"/>
    <child link="r_hand_middle_skin_1"/>
  </joint>
  <link name="r_hand_middle_skin_10"/>
  <joint name="r_hand_middle_skin_10_fixed_joint" type="fixed">
    <origin xyz="-0.0033000000000000113 -0.004081940988398369 -0.03776668459795801" rpy="-3.141592653589792 1.5049109712528799 1.5707963267948983"/>
    <parent link="r_hand_middle_2"/>
    <child link="r_hand_middle_skin_10"/>
  </joint>
  <link name="r_hand_middle_skin_11"/>
  <joint name="r_hand_middle_skin_11_fixed_joint" type="fixed">
    <origin xyz="-0.003300000000000025 -0.0031311476143918715 -0.03328041800528686" rpy="-2.4236682262019727e-16 1.2200949024613594 -1.5707963267948972"/>
    <parent link="r_hand_middle_2"/>
    <child link="r_hand_middle_skin_11"/>
  </joint>
  <link name="r_hand_middle_skin_2"/>
  <joint name="r_hand_middle_skin_2_fixed_joint" type="fixed">
    <origin xyz="-4.5102810375396984e-17 -0.003758241653579991 -0.035192049408458936" rpy="-3.177873773164535e-16 1.3056813328515076 -1.5707963267948972"/>
    <parent link="r_hand_middle_2"/>
    <child link="r_hand_middle_skin_2"/>
  </joint>
  <link name="r_hand_middle_skin_3"/>
  <joint name="r_hand_middle_skin_3_fixed_joint" type="fixed">
    <origin xyz="0.003299999999999942 -0.004081940988398425 -0.03776668459795801" rpy="-3.141592653589792 1.5049109712528799 1.5707963267948986"/>
    <parent link="r_hand_middle_2"/>
    <child link="r_hand_middle_skin_3"/>
  </joint>
  <link name="r_hand_middle_skin_4"/>
  <joint name="r_hand_middle_skin_4_fixed_joint" type="fixed">
    <origin xyz="0.005929525942276321 -0.001192320688661208 -0.03799999999999998" rpy="-3.141592653589792 1.2994442229713614 2.7771555423255876"/>
    <parent link="r_hand_middle_2"/>
    <child link="r_hand_middle_skin_4"/>
  </joint>
  <link name="r_hand_middle_skin_5"/>
  <joint name="r_hand_middle_skin_5_fixed_joint" type="fixed">
    <origin xyz="-2.42861286636753e-17 -0.0034840921633511046 -0.03982136611863335" rpy="-3.141592653589793 1.08875132979836 1.5707963267948968"/>
    <parent link="r_hand_middle_2"/>
    <child link="r_hand_middle_skin_5"/>
  </joint>
  <link name="r_hand_middle_skin_6"/>
  <joint name="r_hand_middle_skin_6_fixed_joint" type="fixed">
    <origin xyz="0.0032999999999999766 -0.0018288017188733963 -0.041769634404151934" rpy="-3.1415926535897927 0.778815589313783 2.532067756581199"/>
    <parent link="r_hand_middle_2"/>
    <child link="r_hand_middle_skin_6"/>
  </joint>
  <link name="r_hand_middle_skin_7"/>
  <joint name="r_hand_middle_skin_7_fixed_joint" type="fixed">
    <origin xyz="-5.204170427930421e-17 -2.9018466437888413e-4 -0.04325964091188089" rpy="-3.141592653589793 0.6209480183022739 1.5712124826321157"/>
    <parent link="r_hand_middle_2"/>
    <child link="r_hand_middle_skin_7"/>
  </joint>
  <link name="r_hand_middle_skin_8"/>
  <joint name="r_hand_middle_skin_8_fixed_joint" type="fixed">
    <origin xyz="-0.0033000000000000217 -0.0018288017188733408 -0.04176963440415199" rpy="3.1415926535897927 0.778815589313783 0.6095248970085936"/>
    <parent link="r_hand_middle_2"/>
    <child link="r_hand_middle_skin_8"/>
  </joint>
  <link name="r_hand_middle_skin_9"/>
  <joint name="r_hand_middle_skin_9_fixed_joint" type="fixed">
    <origin xyz="-0.00592952594227638 -0.0011923206886611526 -0.03799999999999998" rpy="3.141592653589792 1.299444222971361 0.3644371112642049"/>
    <parent link="r_hand_middle_2"/>
    <child link="r_hand_middle_skin_9"/>
  </joint>
  <link name="r_hand_pinkie_skin_0"/>
  <joint name="r_hand_pinkie_skin_0_fixed_joint" type="fixed">
    <origin xyz="0 -0.0024339180582408637 -0.03140545777888881" rpy="2.6430654561173425e-16 1.2225055986691284 -1.5707963267948966"/>
    <parent link="r_hand_pinkie_2"/>
    <child link="r_hand_pinkie_skin_0"/>
  </joint>
  <link name="r_hand_pinkie_skin_1"/>
  <joint name="r_hand_pinkie_skin_1_fixed_joint" type="fixed">
    <origin xyz="0.0033000000000000113 -0.0031311476143962846 -0.03328041800528675" rpy="1.8177511696515236e-16 1.2200949024613699 -1.5707963267948966"/>
    <parent link="r_hand_pinkie_2"/>
    <child link="r_hand_pinkie_skin_1"/>
  </joint>
  <link name="r_hand_pinkie_skin_10"/>
  <joint name="r_hand_pinkie_skin_10_fixed_joint" type="fixed">
    <origin xyz="-0.0032999999999999974 -0.004081940988402782 -0.037766684597957845" rpy="3.1415926535897922 1.5049109712528714 1.5707963267948974"/>
    <parent link="r_hand_pinkie_2"/>
    <child link="r_hand_pinkie_skin_10"/>
  </joint>
  <link name="r_hand_pinkie_skin_11"/>
  <joint name="r_hand_pinkie_skin_11_fixed_joint" type="fixed">
    <origin xyz="-0.0032999999999999904 -0.0031311476143963124 -0.033280418005286805" rpy="1.8177511696515236e-16 1.2200949024613699 -1.5707963267948966"/>
    <parent link="r_hand_pinkie_2"/>
    <child link="r_hand_pinkie_skin_11"/>
  </joint>
  <link name="r_hand_pinkie_skin_2"/>
  <joint name="r_hand_pinkie_skin_2_fixed_joint" type="fixed">
    <origin xyz="0 -0.003758241653584321 -0.03519204940845877" rpy="3.17787377316464e-16 1.3056813328515169 -1.5707963267948966"/>
    <parent link="r_hand_pinkie_2"/>
    <child link="r_hand_pinkie_skin_2"/>
  </joint>
  <link name="r_hand_pinkie_skin_3"/>
  <joint name="r_hand_pinkie_skin_3_fixed_joint" type="fixed">
    <origin xyz="0.003300000000000018 -0.004081940988402699 -0.0377666845979579" rpy="3.1415926535897922 1.5049109712528714 1.5707963267948977"/>
    <parent link="r_hand_pinkie_2"/>
    <child link="r_hand_pinkie_skin_3"/>
  </joint>
  <link name="r_hand_pinkie_skin_4"/>
  <joint name="r_hand_pinkie_skin_4_fixed_joint" type="fixed">
    <origin xyz="0.005929525942276366 -0.0011923206886655102 -0.03799999999999981" rpy="3.1415926535897625 1.2994442229713585 2.777155542325558"/>
    <parent link="r_hand_pinkie_2"/>
    <child link="r_hand_pinkie_skin_4"/>
  </joint>
  <link name="r_hand_pinkie_skin_5"/>
  <joint name="r_hand_pinkie_skin_5_fixed_joint" type="fixed">
    <origin xyz="1.3877787807814457e-17 -0.00348409216335549 -0.03982136611863324" rpy="3.141592653589793 1.0887513297983513 1.5707963267948968"/>
    <parent link="r_hand_pinkie_2"/>
    <child link="r_hand_pinkie_skin_5"/>
  </joint>
  <link name="r_hand_pinkie_skin_6"/>
  <joint name="r_hand_pinkie_skin_6_fixed_joint" type="fixed">
    <origin xyz="0.0033000000000000043 -0.0018288017188776429 -0.04176963440415177" rpy="3.1415926535897833 0.778815589313778 2.532067756581192"/>
    <parent link="r_hand_pinkie_2"/>
    <child link="r_hand_pinkie_skin_6"/>
  </joint>
  <link name="r_hand_pinkie_skin_7"/>
  <joint name="r_hand_pinkie_skin_7_fixed_joint" type="fixed">
    <origin xyz="-6.938893903907228e-18 -2.901846643830752e-4 -0.04325964091188084" rpy="3.141592653589793 0.620948018302265 1.5712124826321159"/>
    <parent link="r_hand_pinkie_2"/>
    <child link="r_hand_pinkie_skin_7"/>
  </joint>
  <link name="r_hand_pinkie_skin_8"/>
  <joint name="r_hand_pinkie_skin_8_fixed_joint" type="fixed">
    <origin xyz="-0.0032999999999999904 -0.0018288017188776429 -0.04176963440415177" rpy="-3.1415926535897833 0.7788155893137778 0.6095248970086008"/>
    <parent link="r_hand_pinkie_2"/>
    <child link="r_hand_pinkie_skin_8"/>
  </joint>
  <link name="r_hand_pinkie_skin_9"/>
  <joint name="r_hand_pinkie_skin_9_fixed_joint" type="fixed">
    <origin xyz="-0.005929525942276352 -0.0011923206886654825 -0.03799999999999981" rpy="-3.141592653589763 1.299444222971359 0.3644371112642355"/>
    <parent link="r_hand_pinkie_2"/>
    <child link="r_hand_pinkie_skin_9"/>
  </joint>
  <link name="r_hand_ring_skin_0"/>
  <joint name="r_hand_ring_skin_0_fixed_joint" type="fixed">
    <origin xyz="3.469446951953614e-18 -0.0024339182743748355 -0.03140545776213821" rpy="1.4231890647798227e-16 1.222505591786931 -1.5707963267948966"/>
    <parent link="r_hand_ring_2"/>
    <child link="r_hand_ring_skin_0"/>
  </joint>
  <link name="r_hand_ring_skin_1"/>
  <joint name="r_hand_ring_skin_1_fixed_joint" type="fixed">
    <origin xyz="0.0032999999999999974 -0.0031311478434340456 -0.03328041798373782" rpy="1.4138064386867392e-16 1.2200948955791715 -1.5707963267948966"/>
    <parent link="r_hand_ring_2"/>
    <child link="r_hand_ring_skin_1"/>
  </joint>
  <link name="r_hand_ring_skin_10"/>
  <joint name="r_hand_ring_skin_10_fixed_joint" type="fixed">
    <origin xyz="-0.0033000000000000113 -0.004081941248315957 -0.03776668456986537" rpy="3.1415926535897927 1.5049109781350702 1.5707963267948977"/>
    <parent link="r_hand_ring_2"/>
    <child link="r_hand_ring_skin_10"/>
  </joint>
  <link name="r_hand_ring_skin_11"/>
  <joint name="r_hand_ring_skin_11_fixed_joint" type="fixed">
    <origin xyz="-0.0033000000000000026 -0.0031311478434340456 -0.033280417983737876" rpy="1.4138064386867392e-16 1.2200948955791715 -1.5707963267948966"/>
    <parent link="r_hand_ring_2"/>
    <child link="r_hand_ring_skin_11"/>
  </joint>
  <link name="r_hand_ring_skin_2"/>
  <joint name="r_hand_ring_skin_2_fixed_joint" type="fixed">
    <origin xyz="1.214306433183765e-17 -0.0037582418957782804 -0.035192049382594015" rpy="1.324114038587985e-16 1.305681325969319 -1.5707963267948966"/>
    <parent link="r_hand_ring_2"/>
    <child link="r_hand_ring_skin_2"/>
  </joint>
  <link name="r_hand_ring_skin_3"/>
  <joint name="r_hand_ring_skin_3_fixed_joint" type="fixed">
    <origin xyz="0.003299999999999987 -0.004081941248315901 -0.03776668456986537" rpy="3.1415926535897927 1.5049109781350702 1.5707963267948974"/>
    <parent link="r_hand_ring_2"/>
    <child link="r_hand_ring_skin_3"/>
  </joint>
  <link name="r_hand_ring_skin_4"/>
  <joint name="r_hand_ring_skin_4_fixed_joint" type="fixed">
    <origin xyz="0.005929525942276352 -0.0011923209501843446 -0.03799999999179421" rpy="-3.1415926295995895 1.2994442254243346 2.777155565437974"/>
    <parent link="r_hand_ring_2"/>
    <child link="r_hand_ring_skin_4"/>
  </joint>
  <link name="r_hand_ring_skin_5"/>
  <joint name="r_hand_ring_skin_5_fixed_joint" type="fixed">
    <origin xyz="-1.214306433183765e-17 -0.0034840924374092974 -0.03982136609465514" rpy="3.141592653589793 1.0887513366805477 1.570796326794897"/>
    <parent link="r_hand_ring_2"/>
    <child link="r_hand_ring_skin_5"/>
  </joint>
  <link name="r_hand_ring_skin_6"/>
  <joint name="r_hand_ring_skin_6_fixed_joint" type="fixed">
    <origin xyz="0.0032999999999999974 -0.0018288020063398913 -0.04176963439156578" rpy="-3.141592645661621 0.7788155932536848 2.53206776215024"/>
    <parent link="r_hand_ring_2"/>
    <child link="r_hand_ring_skin_6"/>
  </joint>
  <link name="r_hand_ring_skin_7"/>
  <joint name="r_hand_ring_skin_7_fixed_joint" type="fixed">
    <origin xyz="3.469446951953614e-18 -2.901849620998431e-4 -0.04325964090988388" rpy="-3.141592653586272 0.6209480251844615 1.5712124826341647"/>
    <parent link="r_hand_ring_2"/>
    <child link="r_hand_ring_skin_7"/>
  </joint>
  <link name="r_hand_ring_skin_8"/>
  <joint name="r_hand_ring_skin_8_fixed_joint" type="fixed">
    <origin xyz="-0.0032999999999999956 -0.0018288020063398913 -0.04176963439156589" rpy="3.141592645661621 0.7788155932536843 0.6095248914395535"/>
    <parent link="r_hand_ring_2"/>
    <child link="r_hand_ring_skin_8"/>
  </joint>
  <link name="r_hand_ring_skin_9"/>
  <joint name="r_hand_ring_skin_9_fixed_joint" type="fixed">
    <origin xyz="-0.0059295259422763695 -0.0011923209501843723 -0.03799999999179421" rpy="3.141592629599589 1.2994442254243332 0.36443708815181947"/>
    <parent link="r_hand_ring_2"/>
    <child link="r_hand_ring_skin_9"/>
  </joint>
  <link name="r_hand_thumb_skin_0"/>
  <joint name="r_hand_thumb_skin_0_fixed_joint" type="fixed">
    <origin xyz="-5.551115123125783e-17 -0.002433587294553591 -0.026405457778889127" rpy="2.765053092553465e-15 -1.22250559866914 1.5707963267948857"/>
    <parent link="r_hand_thumb_3"/>
    <child link="r_hand_thumb_skin_0"/>
  </joint>
  <link name="r_hand_thumb_skin_1"/>
  <joint name="r_hand_thumb_skin_1_fixed_joint" type="fixed">
    <origin xyz="0.0032999999999999696 -0.0031308168507089285 -0.02828041800528714" rpy="3.1415926535897922 -0.6108652381980179 -1.5707963267949114"/>
    <parent link="r_hand_thumb_3"/>
    <child link="r_hand_thumb_skin_1"/>
  </joint>
  <link name="r_hand_thumb_skin_10"/>
  <joint name="r_hand_thumb_skin_10_fixed_joint" type="fixed">
    <origin xyz="-0.003300000000000053 -0.004081610224715565 -0.032766684597958284" rpy="3.141592653589779 -1.5049109712529725 -1.570796326794926"/>
    <parent link="r_hand_thumb_3"/>
    <child link="r_hand_thumb_skin_10"/>
  </joint>
  <link name="r_hand_thumb_skin_11"/>
  <joint name="r_hand_thumb_skin_11_fixed_joint" type="fixed">
    <origin xyz="-0.003300000000000053 -0.0031308168507090395 -0.02828041800528719" rpy="2.908401871442372e-15 -1.2200949024613812 1.5707963267948855"/>
    <parent link="r_hand_thumb_3"/>
    <child link="r_hand_thumb_skin_11"/>
  </joint>
  <link name="r_hand_thumb_skin_2"/>
  <joint name="r_hand_thumb_skin_2_fixed_joint" type="fixed">
    <origin xyz="0 -0.0037579108898970204 -0.03019204940845916" rpy="3.389732024708853e-15 -1.3056813328515338 1.5707963267948863"/>
    <parent link="r_hand_thumb_3"/>
    <child link="r_hand_thumb_skin_2"/>
  </joint>
  <link name="r_hand_thumb_skin_3"/>
  <joint name="r_hand_thumb_skin_3_fixed_joint" type="fixed">
    <origin xyz="0.0032999999999999974 -0.004081610224715454 -0.032766684597958305" rpy="3.1415926535897922 -0.6108652381980177 -1.5707963267949112"/>
    <parent link="r_hand_thumb_3"/>
    <child link="r_hand_thumb_skin_3"/>
  </joint>
  <link name="r_hand_thumb_skin_4"/>
  <joint name="r_hand_thumb_skin_4_fixed_joint" type="fixed">
    <origin xyz="0.005929525942276387 -0.0011919899249781263 -0.03300000000000026" rpy="1.5707963267948817 -1.507507552842365 -1.5707963267949265"/>
    <parent link="r_hand_thumb_3"/>
    <child link="r_hand_thumb_skin_4"/>
  </joint>
  <link name="r_hand_thumb_skin_5"/>
  <joint name="r_hand_thumb_skin_5_fixed_joint" type="fixed">
    <origin xyz="-5.551115123125783e-17 -0.003483761399668245 -0.034821366118633644" rpy="3.1415926535897913 -1.088751329798369 -1.5707963267949128"/>
    <parent link="r_hand_thumb_3"/>
    <child link="r_hand_thumb_skin_5"/>
  </joint>
  <link name="r_hand_thumb_skin_6"/>
  <joint name="r_hand_thumb_skin_6_fixed_joint" type="fixed">
    <origin xyz="0.0032999999999999974 -0.0018284709551903977 -0.036769634404152235" rpy="-1.3861080081060772e-15 -0.7657426207446857 -1.5707963267949117"/>
    <parent link="r_hand_thumb_3"/>
    <child link="r_hand_thumb_skin_6"/>
  </joint>
  <link name="r_hand_thumb_skin_7"/>
  <joint name="r_hand_thumb_skin_7_fixed_joint" type="fixed">
    <origin xyz="-2.7755575615628914e-17 -2.898539006959133e-4 -0.038259640911881256" rpy="-3.1415628661866624 -0.6209480176820894 -1.570431369087355"/>
    <parent link="r_hand_thumb_3"/>
    <child link="r_hand_thumb_skin_7"/>
  </joint>
  <link name="r_hand_thumb_skin_8"/>
  <joint name="r_hand_thumb_skin_8_fixed_joint" type="fixed">
    <origin xyz="-0.0032999999999999974 -0.0018284709551905087 -0.03676963440415227" rpy="3.071469774250236 -0.7763161153414891 -2.432155392931655"/>
    <parent link="r_hand_thumb_3"/>
    <child link="r_hand_thumb_skin_8"/>
  </joint>
  <link name="r_hand_thumb_skin_9"/>
  <joint name="r_hand_thumb_skin_9_fixed_joint" type="fixed">
    <origin xyz="-0.005929525942276387 -0.0011919899249783206 -0.03300000000000024" rpy="2.9258803249384773 -1.2928372753400146 -2.553113197096302"/>
    <parent link="r_hand_thumb_3"/>
    <child link="r_hand_thumb_skin_9"/>
  </joint>
  <link name="torso_tripod_root"/>
  <joint name="torso_tripod_root_fixed_joint" type="fixed">
    <origin xyz="0 0 0" rpy="0 -0 0"/>
    <parent link="torso_platform_link"/>
    <child link="torso_tripod_root"/>
  </joint>
  <gazebo reference="l_arm_ft_sensor">
    <sensor name="l_arm_ft" type="force_torque">
      <always_on>1</always_on>
      <update_rate>100</update_rate>
      <force_torque>
        <frame>sensor</frame>
        <measure_direction>child_to_parent</measure_direction>
      </force_torque>
      <pose>-2.15106e-16 0 0 3.14159 -2.54805e-16 -1.5708 </pose>
      <plugin name="left_arm_ft_plugin" filename="libgazebo_yarp_forcetorque.so">
        <yarpConfigurationFile>model://R1Mk3/conf/FT/gazebo_cer_left_arm_ft.ini</yarpConfigurationFile>
      </plugin>
    </sensor>
  </gazebo>
  <sensor name="l_arm_ft" type="force_torque">
    <parent joint="l_arm_ft_sensor"/>
    <force_torque>
      <frame>sensor</frame>
      <measure_direction>child_to_parent</measure_direction>
    </force_torque>
    <origin rpy="3.14159 -2.54805e-16 -1.5708 " xyz="-2.15106e-16 0 0"/>
  </sensor>
  <gazebo reference="r_arm_ft_sensor">
    <sensor name="r_arm_ft" type="force_torque">
      <always_on>1</always_on>
      <update_rate>100</update_rate>
      <force_torque>
        <frame>sensor</frame>
        <measure_direction>child_to_parent</measure_direction>
      </force_torque>
      <pose>0 0 0 -3.14159 -2.20185e-17 1.5708 </pose>
      <plugin name="right_arm_ft_plugin" filename="libgazebo_yarp_forcetorque.so">
        <yarpConfigurationFile>model://R1Mk3/conf/FT/gazebo_cer_right_arm_ft.ini</yarpConfigurationFile>
      </plugin>
    </sensor>
  </gazebo>
  <sensor name="r_arm_ft" type="force_torque">
    <parent joint="r_arm_ft_sensor"/>
    <force_torque>
      <frame>sensor</frame>
      <measure_direction>child_to_parent</measure_direction>
    </force_torque>
    <origin rpy="-3.14159 -2.20185e-17 1.5708 " xyz="0 0 0"/>
  </sensor>
  <gazebo reference="mobile_base_body_link">
    <sensor name="base_laser_front" type="gpu_lidar">
      <always_on>1</always_on>
      <update_rate>40.000000</update_rate>
      <pose>0.07 0 0.031 0 -0 0 </pose>
      <ray>
        <scan>
          <horizontal>
            <samples>360</samples>
            <resolution>1</resolution>
            <min_angle>-3.14</min_angle>
            <max_angle>3.14</max_angle>
          </horizontal>
        </scan>
        <range>
          <min>0.10</min>
          <max>5.0</max>
          <resolution>0.01</resolution>
        </range>
        <noise>
          <type>gaussian</type>
          <mean>0.0</mean>
          <stddev>0.005</stddev>
        </noise>
      </ray>
      <plugin name="laser_sensor" filename="libgazebo_yarp_lasersensor.so">
        <yarpConfigurationFile>model://R1Mk3/conf/gazebo_cer_lasersensor_front.ini</yarpConfigurationFile>
      </plugin>
    </sensor>
  </gazebo>
  <sensor name="base_laser_front" type="gpu_lidar">
    <parent link="mobile_base_body_link"/>
    <origin rpy="0 -0 0 " xyz="0.07 0 0.031"/>
  </sensor>
  <gazebo reference="mobile_base_body_link">
    <sensor name="base_laser_back" type="gpu_lidar">
      <always_on>1</always_on>
      <update_rate>40.000000</update_rate>
      <pose>-0.085 0 0.031 0 -0 3.14159 </pose>
      <ray>
        <scan>
          <horizontal>
            <samples>1600</samples>
            <resolution>1</resolution>
            <min_angle>0</min_angle>
            <max_angle>6.28</max_angle>
          </horizontal>
        </scan>
        <range>
          <min>0.10</min>
          <max>20.0</max>
          <resolution>0.01</resolution>
        </range>
        <noise>
          <type>gaussian</type>
          <mean>0.0</mean>
          <stddev>0.005</stddev>
        </noise>
      </ray>
      <plugin name="laser_sensor" filename="libgazebo_yarp_lasersensor.so">
        <yarpConfigurationFile>model://R1Mk3/conf/gazebo_cer_lasersensor_back.ini</yarpConfigurationFile>
      </plugin>
    </sensor>
  </gazebo>
  <sensor name="base_laser_back" type="gpu_lidar">
    <parent link="mobile_base_body_link"/>
    <origin rpy="0 -0 3.14159 " xyz="-0.085 0 0.031"/>
  </sensor>
  <gazebo reference="head_link">
    <sensor name="realsense_depth" type="depth">
      <always_on>1</always_on>
      <update_rate>30.000000</update_rate>
      <pose>0.0513268 0.0444871 0.0537548 -1.39626 -1.06329e-17 -1.5708 </pose>
      <camera name="realsense_depth">
        <pose frame="">0 0 0 -1.57079 -1.57079 3.14159</pose>
        <horizontal_fov>1.02259</horizontal_fov>
        <distortion>
          <k1>0</k1>
          <k2>0</k2>
          <k3>0</k3>
          <p1>0</p1>
          <p2>0</p2>
          <center>319.5 239.5</center>
        </distortion>
        <image>
          <width>640</width>
          <height>480</height>
          <format>R8G8B8</format>
        </image>
        <clip>
          <near>0.02</near>
          <far>3000</far>
        </clip>
      </camera>
      <plugin filename="libgazebo_yarp_depthCamera.so" name="depth_camera_plugin">
        <yarpConfigurationFile>model://R1Mk3/conf/sensors/gazebo_cer_rgbd_camera.ini</yarpConfigurationFile>
      </plugin>
    </sensor>
  </gazebo>
  <sensor name="realsense_depth" type="depth">
    <parent link="head_link"/>
    <origin rpy="-1.39626 -1.06329e-17 -1.5708 " xyz="0.0513268 0.0444871 0.0537548"/>
  </sensor>
  <gazebo reference="head_link">
    <sensor name="realsense_rgb" type="camera">
      <always_on>1</always_on>
      <update_rate>30.000000</update_rate>
      <pose>0.0513268 0.0184871 0.0537548 -1.39626 -1.06329e-17 -1.5708 </pose>
      <camera name="realsense_rgb">
        <pose frame="">0 0 0 -1.57079 -1.57079 3.14159</pose>
        <horizontal_fov>1.02259</horizontal_fov>
        <distortion>
          <k1>0</k1>
          <k2>0</k2>
          <k3>0</k3>
          <p1>0</p1>
          <p2>0</p2>
          <center>319.5 239.5</center>
        </distortion>
        <image>
          <width>640</width>
          <height>480</height>
          <format>R8G8B8</format>
        </image>
        <clip>
          <near>0.02</near>
          <far>3000</far>
        </clip>
      </camera>
      <plugin filename="libgazebo_yarp_camera.so" name="rgb_camera_plugin">
        <yarpConfigurationFile>model://R1Mk3/conf/gazebo_cer_rgb_camera.ini</yarpConfigurationFile>
      </plugin>
    </sensor>
  </gazebo>
  <sensor name="realsense_rgb" type="camera">
    <parent link="head_link"/>
    <origin rpy="-1.39626 -1.06329e-17 -1.5708 " xyz="0.0513268 0.0184871 0.0537548"/>
  </sensor>
  <gazebo reference="r_arm_ft_sensor">
    <preserveFixedJoint>true</preserveFixedJoint>
    <!-- For compatibility with SDFormat < 4.4 -->
    <disableFixedJointLumping>true</disableFixedJointLumping>
  </gazebo>
  <gazebo reference="l_arm_ft_sensor">
    <preserveFixedJoint>true</preserveFixedJoint>
    <!-- For compatibility with SDFormat < 4.4 -->
    <disableFixedJointLumping>true</disableFixedJointLumping>
  </gazebo>
  <gazebo>
    <plugin name="controlboard_torso" filename="libgazebo_yarp_controlboard.so">
      <yarpConfigurationFile>model://R1Mk3/conf/gazebo_cer_torso.ini</yarpConfigurationFile>
    </plugin>
  </gazebo>
  <gazebo>
    <plugin name="gzyarp::ControlBoard" filename="gz-sim-yarp-controlboard-system">
      <yarpConfigurationFile>model://R1Mk3/conf/gazebo_cer_torso.ini</yarpConfigurationFile>
    </plugin>
  </gazebo>
  <gazebo>
    <plugin name="controlboard_head" filename="libgazebo_yarp_controlboard.so">
      <yarpConfigurationFile>model://R1Mk3/conf/gazebo_cer_head.ini</yarpConfigurationFile>
    </plugin>
  </gazebo>
  <gazebo>
    <plugin name="gzyarp::ControlBoard" filename="gz-sim-yarp-controlboard-system">
      <yarpConfigurationFile>model://R1Mk3/conf/gazebo_cer_head.ini</yarpConfigurationFile>
    </plugin>
  </gazebo>
  <gazebo>
    <plugin name="controlboard_left_arm_no_hand" filename="libgazebo_yarp_controlboard.so">
      <yarpConfigurationFile>model://R1Mk3/conf/gazebo_cer_left_arm.ini</yarpConfigurationFile>
      <initialConfiguration>-0.52 0.52 0 0.785 0 0 0.0</initialConfiguration>
    </plugin>
  </gazebo>
  <gazebo>
    <plugin name="gzyarp::ControlBoard" filename="gz-sim-yarp-controlboard-system">
      <yarpConfigurationFile>model://R1Mk3/conf/gazebo_cer_left_arm.ini</yarpConfigurationFile>
      <initialConfiguration>-0.52 0.52 0 0.785 0 0 0.0</initialConfiguration>
    </plugin>
  </gazebo>
  <gazebo>
    <plugin name="controlboard_left_hand" filename="libgazebo_yarp_controlboard.so">
      <yarpConfigurationFile>model://R1Mk3/conf/gazebo_cer_left_hand_mk5_1.ini</yarpConfigurationFile>
    </plugin>
  </gazebo>
  <gazebo>
    <plugin name="gzyarp::ControlBoard" filename="gz-sim-yarp-controlboard-system">
      <yarpConfigurationFile>model://R1Mk3/conf/gazebo_cer_left_hand_mk5_1.ini</yarpConfigurationFile>
    </plugin>
  </gazebo>
  <gazebo reference="l_shoulder_pitch">
    <implicitSpringDamper>1</implicitSpringDamper>
  </gazebo>
  <gazebo reference="l_shoulder_roll">
    <implicitSpringDamper>1</implicitSpringDamper>
  </gazebo>
  <gazebo reference="l_shoulder_yaw">
    <implicitSpringDamper>1</implicitSpringDamper>
  </gazebo>
  <gazebo reference="l_elbow">
    <implicitSpringDamper>1</implicitSpringDamper>
  </gazebo>
  <gazebo reference="l_wrist_roll">
    <implicitSpringDamper>1</implicitSpringDamper>
  </gazebo>
  <gazebo reference="l_wrist_pitch">
    <implicitSpringDamper>1</implicitSpringDamper>
  </gazebo>
  <gazebo reference="l_wrist_yaw">
    <implicitSpringDamper>1</implicitSpringDamper>
  </gazebo>
  <gazebo>
    <plugin name="gzyarp::ForceTorque" filename="gz-sim-yarp-forcetorque-system">
      <yarpConfigurationFile>model://R1Mk3/conf/FT/gazebo_cer_left_arm_ft.ini</yarpConfigurationFile>
    </plugin>
  </gazebo>
  <gazebo>
    <plugin name="controlboard_right_arm" filename="libgazebo_yarp_controlboard.so">
      <yarpConfigurationFile>model://R1Mk3/conf/gazebo_cer_right_arm.ini</yarpConfigurationFile>
      <initialConfiguration>-0.52 0.52 0 0.785 0 0 0.0</initialConfiguration>
    </plugin>
  </gazebo>
  <gazebo>
    <plugin name="gzyarp::ControlBoard" filename="gz-sim-yarp-controlboard-system">
      <yarpConfigurationFile>model://R1Mk3/conf/gazebo_cer_right_arm.ini</yarpConfigurationFile>
      <initialConfiguration>-0.52 0.52 0 0.785 0 0 0.0</initialConfiguration>
    </plugin>
  </gazebo>
  <gazebo>
    <plugin name="controlboard_right_hand" filename="libgazebo_yarp_controlboard.so">
      <yarpConfigurationFile>model://R1Mk3/conf/gazebo_cer_right_hand_mk5_1.ini</yarpConfigurationFile>
    </plugin>
  </gazebo>
  <gazebo>
    <plugin name="gzyarp::ControlBoard" filename="gz-sim-yarp-controlboard-system">
      <yarpConfigurationFile>model://R1Mk3/conf/gazebo_cer_right_hand_mk5_1.ini</yarpConfigurationFile>
    </plugin>
  </gazebo>
  <gazebo reference="r_shoulder_pitch">
    <implicitSpringDamper>1</implicitSpringDamper>
  </gazebo>
  <gazebo reference="r_shoulder_roll">
    <implicitSpringDamper>1</implicitSpringDamper>
  </gazebo>
  <gazebo reference="r_shoulder_yaw">
    <implicitSpringDamper>1</implicitSpringDamper>
  </gazebo>
  <gazebo reference="r_elbow">
    <implicitSpringDamper>1</implicitSpringDamper>
  </gazebo>
  <gazebo reference="r_wrist_roll">
    <implicitSpringDamper>1</implicitSpringDamper>
  </gazebo>
  <gazebo reference="r_wrist_pitch">
    <implicitSpringDamper>1</implicitSpringDamper>
  </gazebo>
  <gazebo reference="r_wrist_yaw">
    <implicitSpringDamper>1</implicitSpringDamper>
  </gazebo>
  <gazebo>
    <plugin name="gzyarp::ForceTorque" filename="gz-sim-yarp-forcetorque-system">
      <yarpConfigurationFile>model://R1Mk3/conf/FT/gazebo_cer_right_arm_ft.ini</yarpConfigurationFile>
    </plugin>
  </gazebo>
  <gazebo>
    <plugin name="gzyarp::Laser" filename="gz-sim-yarp-laser-system">
      <yarpConfigurationFile>model://R1Mk3/conf/gazebo_cer_laser_sensor_back.ini</yarpConfigurationFile>
    </plugin>
  </gazebo>
  <gazebo>
    <plugin name="gzyarp::Laser" filename="gz-sim-yarp-laser-system">
      <yarpConfigurationFile>model://R1Mk3/conf/gazebo_cer_laser_sensor_front.ini</yarpConfigurationFile>
    </plugin>
  </gazebo>
  <gazebo>
    <plugin name="controlboard_mobile_base" filename="libgazebo_yarp_controlboard.so">
      <yarpConfigurationFile>model://R1Mk3/conf/gazebo_cer_mobile_base.ini</yarpConfigurationFile>
    </plugin>
  </gazebo>
  <gazebo>
    <plugin name="gzyarp::ControlBoard" filename="gz-sim-yarp-controlboard-system">
      <yarpConfigurationFile>model://R1Mk3/conf/gazebo_cer_mobile_base.ini</yarpConfigurationFile>
    </plugin>
  </gazebo>
  <gazebo>
    <plugin name="robotinterface" filename="libgazebo_yarp_robotinterface.so">
      <yarpRobotInterfaceConfigurationFile>model://R1Mk3/conf/r1mk3.xml</yarpRobotInterfaceConfigurationFile>
    </plugin>
  </gazebo>
  <gazebo>
    <plugin name="gzyarp::RobotInterface" filename="gz-sim-yarp-robotinterface-system">
      <yarpRobotInterfaceConfigurationFile>model://R1Mk3/conf/r1mk3_gz_sim.xml</yarpRobotInterfaceConfigurationFile>
    </plugin>
  </gazebo>
  <gazebo>
    <plugin filename="gz-sim-forcetorque-system" name="gz::sim::systems::ForceTorque"/>
  </gazebo>
  <gazebo>
    <plugin filename="gz-sim-imu-system" name="gz::sim::systems::Imu"/>
  </gazebo>
  <gazebo>
    <plugin filename="gz-sim-scene-broadcaster-system" name="gz::sim::systems::SceneBroadcaster"/>
  </gazebo>
  <gazebo>
    <plugin filename="gz-sim-sensors-system" name="gz::sim::systems::Sensors"/>
  </gazebo>
  <gazebo reference="mobile_base_body_link">
    <collision>
      <surface>
        <contact>
          <ode/>
        </contact>
        <friction>
          <ode>
            <mu>0.0</mu>
            <mu2>0.0</mu2>
          </ode>
        </friction>
      </surface>
    </collision>
  </gazebo>
  <gazebo>
    <pose>0 0 0.16 0 0 0</pose>
  </gazebo>
  <gazebo reference="mobile_base_l_wheel_joint">
    <implicitSpringDamper>1</implicitSpringDamper>
  </gazebo>
  <gazebo reference="mobile_base_r_wheel_joint">
    <implicitSpringDamper>1</implicitSpringDamper>
  </gazebo>
  <gazebo reference="torso_heave_eq_joint">
    <implicitSpringDamper>1</implicitSpringDamper>
  </gazebo>
  <gazebo reference="torso_roll_eq_joint">
    <implicitSpringDamper>1</implicitSpringDamper>
  </gazebo>
  <gazebo reference="torso_pitch_eq_joint">
    <implicitSpringDamper>1</implicitSpringDamper>
  </gazebo>
  <gazebo reference="torso_yaw_joint">
    <implicitSpringDamper>1</implicitSpringDamper>
  </gazebo>
  <gazebo reference="neck_pitch_joint">
    <implicitSpringDamper>1</implicitSpringDamper>
  </gazebo>
  <gazebo reference="neck_yaw_joint">
    <implicitSpringDamper>1</implicitSpringDamper>
  </gazebo>
  <gazebo reference="l_shoulder_pitch_joint">
    <implicitSpringDamper>1</implicitSpringDamper>
  </gazebo>
  <gazebo reference="l_shoulder_roll_joint">
    <implicitSpringDamper>1</implicitSpringDamper>
  </gazebo>
  <gazebo reference="l_shoulder_yaw_joint">
    <implicitSpringDamper>1</implicitSpringDamper>
  </gazebo>
  <gazebo reference="l_elbow_joint">
    <implicitSpringDamper>1</implicitSpringDamper>
  </gazebo>
  <gazebo reference="l_wrist_pronosupination_joint">
    <implicitSpringDamper>1</implicitSpringDamper>
  </gazebo>
  <gazebo reference="l_wrist_heave_eq_joint">
    <implicitSpringDamper>1</implicitSpringDamper>
  </gazebo>
  <gazebo reference="l_wrist_roll_eq_joint">
    <implicitSpringDamper>1</implicitSpringDamper>
  </gazebo>
  <gazebo reference="l_wrist_pitch_eq_joint">
    <implicitSpringDamper>1</implicitSpringDamper>
  </gazebo>
  <gazebo reference="l_hand_paddle_proximal_joint">
    <implicitSpringDamper>1</implicitSpringDamper>
  </gazebo>
  <gazebo reference="l_hand_paddle_distal_joint">
    <implicitSpringDamper>1</implicitSpringDamper>
  </gazebo>
  <gazebo reference="l_hand_thumb_proximal_joint">
    <implicitSpringDamper>1</implicitSpringDamper>
  </gazebo>
  <gazebo reference="l_hand_thumb_distal_joint">
    <implicitSpringDamper>1</implicitSpringDamper>
  </gazebo>
  <gazebo reference="r_shoulder_pitch_joint">
    <implicitSpringDamper>1</implicitSpringDamper>
  </gazebo>
  <gazebo reference="r_shoulder_roll_joint">
    <implicitSpringDamper>1</implicitSpringDamper>
  </gazebo>
  <gazebo reference="r_shoulder_yaw_joint">
    <implicitSpringDamper>1</implicitSpringDamper>
  </gazebo>
  <gazebo reference="r_elbow_joint">
    <implicitSpringDamper>1</implicitSpringDamper>
  </gazebo>
  <gazebo reference="r_wrist_pronosupination_joint">
    <implicitSpringDamper>1</implicitSpringDamper>
  </gazebo>
  <gazebo reference="r_wrist_heave_eq_joint">
    <implicitSpringDamper>1</implicitSpringDamper>
  </gazebo>
  <gazebo reference="r_wrist_roll_eq_joint">
    <implicitSpringDamper>1</implicitSpringDamper>
  </gazebo>
  <gazebo reference="r_wrist_pitch_eq_joint">
    <implicitSpringDamper>1</implicitSpringDamper>
  </gazebo>
  <gazebo reference="r_hand_paddle_proximal_joint">
    <implicitSpringDamper>1</implicitSpringDamper>
  </gazebo>
  <gazebo reference="r_hand_paddle_distal_joint">
    <implicitSpringDamper>1</implicitSpringDamper>
  </gazebo>
  <gazebo reference="r_hand_thumb_proximal_joint">
    <implicitSpringDamper>1</implicitSpringDamper>
  </gazebo>
  <gazebo reference="r_hand_thumb_distal_joint">
    <implicitSpringDamper>1</implicitSpringDamper>
  </gazebo>
  <gazebo>
    <pose>0.000000 0.000000 0.900000 0.000000 0.000000 0.000000</pose>
  </gazebo>
</robot>
